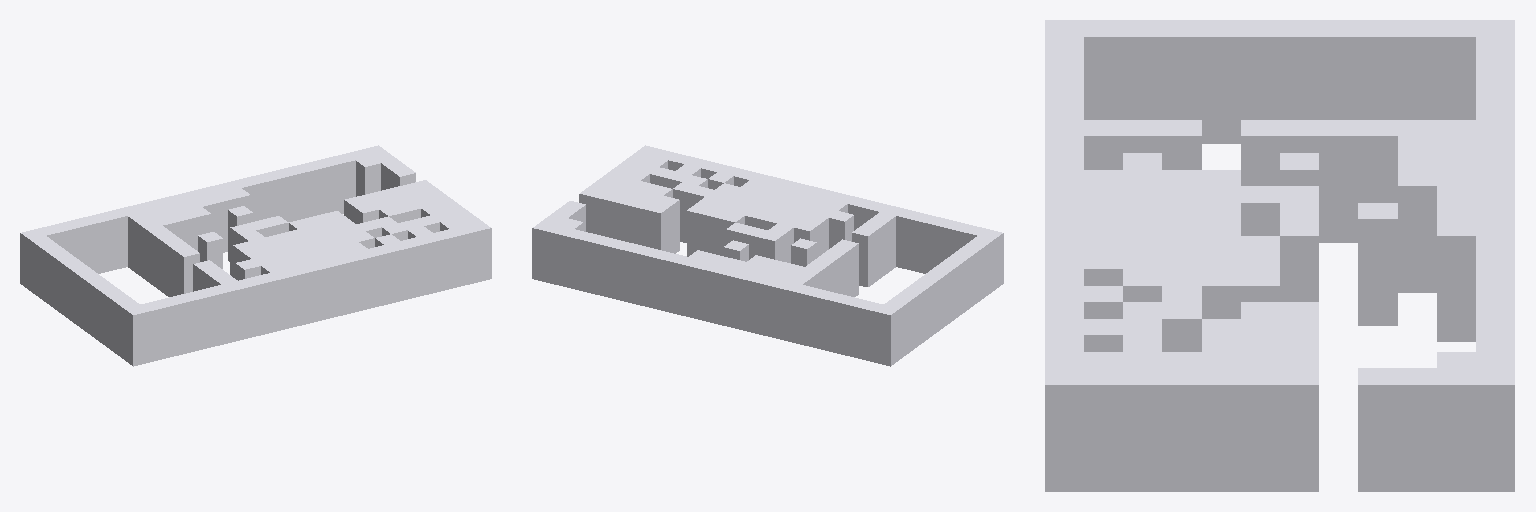
--- Render facts (derived) ---
Views: 3 orthographic renders of the robot side by side, from view 1: azimuth 30°, elevation 25°; view 2: azimuth 150°, elevation 25°; view 3: azimuth 270°, elevation 25°.
Model maze with 141 links and 140 joints (140 fixed), rooted at maze_base, posed every joint at zero.
Links seen in each view (by area): view 1: block_11_0, block_11_18, block_0_5, block_11_21, block_11_7, block_11_11, block_11_4, block_11_14, block_11_3, block_11_8, block_11_10, block_11_13 (+28 smaller); view 2: block_0_0, block_8_6, block_5_17, block_0_18, block_0_21, block_11_5, block_0_7, block_0_11, block_0_4, block_0_14, block_0_3, block_0_8 (+28 smaller); view 3: block_3_21, block_8_21, block_3_11, block_0_21, block_1_21, block_2_21, block_5_21, block_6_21, block_7_0, block_7_21, block_9_21, block_10_21 (+28 smaller).
Link boxes in pixels (x1,y1,x2,y2): block_11_0: [124, 305, 149, 366]; block_11_18: [418, 233, 442, 294]; block_0_5: [103, 209, 127, 270]; block_11_21: [466, 221, 491, 282]; block_11_7: [239, 277, 263, 338]; block_11_11: [304, 261, 328, 322]; block_11_4: [190, 289, 214, 350]; block_11_14: [353, 249, 377, 310]; block_11_3: [173, 293, 197, 354]; block_11_8: [255, 273, 279, 334]; block_11_10: [288, 265, 311, 326]; block_11_13: [336, 253, 360, 314]; block_0_0: [874, 305, 899, 366]; block_8_6: [852, 226, 877, 286]; block_5_17: [645, 203, 669, 251]; block_0_18: [581, 233, 605, 294]; block_0_21: [532, 221, 557, 282]; block_11_5: [896, 209, 920, 270]; block_0_7: [760, 277, 784, 338]; block_0_11: [695, 261, 719, 322]; block_0_4: [809, 289, 833, 350]; block_0_14: [646, 249, 670, 310]; block_0_3: [826, 293, 850, 354]; block_0_8: [744, 273, 768, 334]; block_3_21: [1358, 368, 1397, 491]; block_8_21: [1162, 368, 1201, 491]; block_3_11: [1358, 203, 1397, 325]; block_0_21: [1476, 368, 1514, 491]; block_1_21: [1437, 368, 1475, 491]; block_2_21: [1398, 368, 1436, 491]; block_5_21: [1280, 368, 1318, 491]; block_6_21: [1241, 368, 1279, 491]; block_7_0: [1202, 20, 1240, 143]; block_7_21: [1202, 368, 1240, 491]; block_9_21: [1123, 368, 1161, 491]; block_10_21: [1084, 368, 1122, 491].
Size in the robot's own frame: 22 by 12 by 3 metres.
Geometry: primitives only (box / cylinder / sphere), no mesh files.

robot.urdf — maze:
<?xml version="1.0" ?>
<robot name="maze">
  <link name="maze_base"/>

  <link name="block_0_0">
    <visual>
      <origin xyz="0 0 0"/>
      <geometry>
        <box size="1.0 1.0 3.0"/>
      </geometry>
      <material name="wall">
        <color rgba="0.95 0.95 0.98 1.0"/>
      </material>
    </visual>
    <collision>
      <origin xyz="0 0 0"/>
      <geometry>
        <box size="1.0 1.0 3.0"/>
      </geometry>
    </collision>
    <inertial>
      <mass value="0"/> <!-- static -->
      <inertia ixx="0" iyy="0" izz="0" ixy="0" ixz="0" iyz="0"/>
    </inertial>
  </link>


  <joint name="joint_block_0_0" type="fixed">
    <parent link="maze_base"/>
    <child link="block_0_0"/>
    <origin xyz="-3.5 5.5 1.5" rpy="0 0 0"/>
  </joint>


  <link name="block_0_1">
    <visual>
      <origin xyz="0 0 0"/>
      <geometry>
        <box size="1.0 1.0 3.0"/>
      </geometry>
      <material name="wall">
        <color rgba="0.95 0.95 0.98 1.0"/>
      </material>
    </visual>
    <collision>
      <origin xyz="0 0 0"/>
      <geometry>
        <box size="1.0 1.0 3.0"/>
      </geometry>
    </collision>
    <inertial>
      <mass value="0"/> <!-- static -->
      <inertia ixx="0" iyy="0" izz="0" ixy="0" ixz="0" iyz="0"/>
    </inertial>
  </link>


  <joint name="joint_block_0_1" type="fixed">
    <parent link="maze_base"/>
    <child link="block_0_1"/>
    <origin xyz="-2.5 5.5 1.5" rpy="0 0 0"/>
  </joint>


  <link name="block_0_2">
    <visual>
      <origin xyz="0 0 0"/>
      <geometry>
        <box size="1.0 1.0 3.0"/>
      </geometry>
      <material name="wall">
        <color rgba="0.95 0.95 0.98 1.0"/>
      </material>
    </visual>
    <collision>
      <origin xyz="0 0 0"/>
      <geometry>
        <box size="1.0 1.0 3.0"/>
      </geometry>
    </collision>
    <inertial>
      <mass value="0"/> <!-- static -->
      <inertia ixx="0" iyy="0" izz="0" ixy="0" ixz="0" iyz="0"/>
    </inertial>
  </link>


  <joint name="joint_block_0_2" type="fixed">
    <parent link="maze_base"/>
    <child link="block_0_2"/>
    <origin xyz="-1.5 5.5 1.5" rpy="0 0 0"/>
  </joint>


  <link name="block_0_3">
    <visual>
      <origin xyz="0 0 0"/>
      <geometry>
        <box size="1.0 1.0 3.0"/>
      </geometry>
      <material name="wall">
        <color rgba="0.95 0.95 0.98 1.0"/>
      </material>
    </visual>
    <collision>
      <origin xyz="0 0 0"/>
      <geometry>
        <box size="1.0 1.0 3.0"/>
      </geometry>
    </collision>
    <inertial>
      <mass value="0"/> <!-- static -->
      <inertia ixx="0" iyy="0" izz="0" ixy="0" ixz="0" iyz="0"/>
    </inertial>
  </link>


  <joint name="joint_block_0_3" type="fixed">
    <parent link="maze_base"/>
    <child link="block_0_3"/>
    <origin xyz="-0.5 5.5 1.5" rpy="0 0 0"/>
  </joint>


  <link name="block_0_4">
    <visual>
      <origin xyz="0 0 0"/>
      <geometry>
        <box size="1.0 1.0 3.0"/>
      </geometry>
      <material name="wall">
        <color rgba="0.95 0.95 0.98 1.0"/>
      </material>
    </visual>
    <collision>
      <origin xyz="0 0 0"/>
      <geometry>
        <box size="1.0 1.0 3.0"/>
      </geometry>
    </collision>
    <inertial>
      <mass value="0"/> <!-- static -->
      <inertia ixx="0" iyy="0" izz="0" ixy="0" ixz="0" iyz="0"/>
    </inertial>
  </link>


  <joint name="joint_block_0_4" type="fixed">
    <parent link="maze_base"/>
    <child link="block_0_4"/>
    <origin xyz="0.5 5.5 1.5" rpy="0 0 0"/>
  </joint>


  <link name="block_0_5">
    <visual>
      <origin xyz="0 0 0"/>
      <geometry>
        <box size="1.0 1.0 3.0"/>
      </geometry>
      <material name="wall">
        <color rgba="0.95 0.95 0.98 1.0"/>
      </material>
    </visual>
    <collision>
      <origin xyz="0 0 0"/>
      <geometry>
        <box size="1.0 1.0 3.0"/>
      </geometry>
    </collision>
    <inertial>
      <mass value="0"/> <!-- static -->
      <inertia ixx="0" iyy="0" izz="0" ixy="0" ixz="0" iyz="0"/>
    </inertial>
  </link>


  <joint name="joint_block_0_5" type="fixed">
    <parent link="maze_base"/>
    <child link="block_0_5"/>
    <origin xyz="1.5 5.5 1.5" rpy="0 0 0"/>
  </joint>


  <link name="block_0_6">
    <visual>
      <origin xyz="0 0 0"/>
      <geometry>
        <box size="1.0 1.0 3.0"/>
      </geometry>
      <material name="wall">
        <color rgba="0.95 0.95 0.98 1.0"/>
      </material>
    </visual>
    <collision>
      <origin xyz="0 0 0"/>
      <geometry>
        <box size="1.0 1.0 3.0"/>
      </geometry>
    </collision>
    <inertial>
      <mass value="0"/> <!-- static -->
      <inertia ixx="0" iyy="0" izz="0" ixy="0" ixz="0" iyz="0"/>
    </inertial>
  </link>


  <joint name="joint_block_0_6" type="fixed">
    <parent link="maze_base"/>
    <child link="block_0_6"/>
    <origin xyz="2.5 5.5 1.5" rpy="0 0 0"/>
  </joint>


  <link name="block_0_7">
    <visual>
      <origin xyz="0 0 0"/>
      <geometry>
        <box size="1.0 1.0 3.0"/>
      </geometry>
      <material name="wall">
        <color rgba="0.95 0.95 0.98 1.0"/>
      </material>
    </visual>
    <collision>
      <origin xyz="0 0 0"/>
      <geometry>
        <box size="1.0 1.0 3.0"/>
      </geometry>
    </collision>
    <inertial>
      <mass value="0"/> <!-- static -->
      <inertia ixx="0" iyy="0" izz="0" ixy="0" ixz="0" iyz="0"/>
    </inertial>
  </link>


  <joint name="joint_block_0_7" type="fixed">
    <parent link="maze_base"/>
    <child link="block_0_7"/>
    <origin xyz="3.5 5.5 1.5" rpy="0 0 0"/>
  </joint>


  <link name="block_0_8">
    <visual>
      <origin xyz="0 0 0"/>
      <geometry>
        <box size="1.0 1.0 3.0"/>
      </geometry>
      <material name="wall">
        <color rgba="0.95 0.95 0.98 1.0"/>
      </material>
    </visual>
    <collision>
      <origin xyz="0 0 0"/>
      <geometry>
        <box size="1.0 1.0 3.0"/>
      </geometry>
    </collision>
    <inertial>
      <mass value="0"/> <!-- static -->
      <inertia ixx="0" iyy="0" izz="0" ixy="0" ixz="0" iyz="0"/>
    </inertial>
  </link>


  <joint name="joint_block_0_8" type="fixed">
    <parent link="maze_base"/>
    <child link="block_0_8"/>
    <origin xyz="4.5 5.5 1.5" rpy="0 0 0"/>
  </joint>


  <link name="block_0_9">
    <visual>
      <origin xyz="0 0 0"/>
      <geometry>
        <box size="1.0 1.0 3.0"/>
      </geometry>
      <material name="wall">
        <color rgba="0.95 0.95 0.98 1.0"/>
      </material>
    </visual>
    <collision>
      <origin xyz="0 0 0"/>
      <geometry>
        <box size="1.0 1.0 3.0"/>
      </geometry>
    </collision>
    <inertial>
      <mass value="0"/> <!-- static -->
      <inertia ixx="0" iyy="0" izz="0" ixy="0" ixz="0" iyz="0"/>
    </inertial>
  </link>


  <joint name="joint_block_0_9" type="fixed">
    <parent link="maze_base"/>
    <child link="block_0_9"/>
    <origin xyz="5.5 5.5 1.5" rpy="0 0 0"/>
  </joint>


  <link name="block_0_10">
    <visual>
      <origin xyz="0 0 0"/>
      <geometry>
        <box size="1.0 1.0 3.0"/>
      </geometry>
      <material name="wall">
        <color rgba="0.95 0.95 0.98 1.0"/>
      </material>
    </visual>
    <collision>
      <origin xyz="0 0 0"/>
      <geometry>
        <box size="1.0 1.0 3.0"/>
      </geometry>
    </collision>
    <inertial>
      <mass value="0"/> <!-- static -->
      <inertia ixx="0" iyy="0" izz="0" ixy="0" ixz="0" iyz="0"/>
    </inertial>
  </link>


  <joint name="joint_block_0_10" type="fixed">
    <parent link="maze_base"/>
    <child link="block_0_10"/>
    <origin xyz="6.5 5.5 1.5" rpy="0 0 0"/>
  </joint>


  <link name="block_0_11">
    <visual>
      <origin xyz="0 0 0"/>
      <geometry>
        <box size="1.0 1.0 3.0"/>
      </geometry>
      <material name="wall">
        <color rgba="0.95 0.95 0.98 1.0"/>
      </material>
    </visual>
    <collision>
      <origin xyz="0 0 0"/>
      <geometry>
        <box size="1.0 1.0 3.0"/>
      </geometry>
    </collision>
    <inertial>
      <mass value="0"/> <!-- static -->
      <inertia ixx="0" iyy="0" izz="0" ixy="0" ixz="0" iyz="0"/>
    </inertial>
  </link>


  <joint name="joint_block_0_11" type="fixed">
    <parent link="maze_base"/>
    <child link="block_0_11"/>
    <origin xyz="7.5 5.5 1.5" rpy="0 0 0"/>
  </joint>


  <link name="block_0_12">
    <visual>
      <origin xyz="0 0 0"/>
      <geometry>
        <box size="1.0 1.0 3.0"/>
      </geometry>
      <material name="wall">
        <color rgba="0.95 0.95 0.98 1.0"/>
      </material>
    </visual>
    <collision>
      <origin xyz="0 0 0"/>
      <geometry>
        <box size="1.0 1.0 3.0"/>
      </geometry>
    </collision>
    <inertial>
      <mass value="0"/> <!-- static -->
      <inertia ixx="0" iyy="0" izz="0" ixy="0" ixz="0" iyz="0"/>
    </inertial>
  </link>


  <joint name="joint_block_0_12" type="fixed">
    <parent link="maze_base"/>
    <child link="block_0_12"/>
    <origin xyz="8.5 5.5 1.5" rpy="0 0 0"/>
  </joint>


  <link name="block_0_13">
    <visual>
      <origin xyz="0 0 0"/>
      <geometry>
        <box size="1.0 1.0 3.0"/>
      </geometry>
      <material name="wall">
        <color rgba="0.95 0.95 0.98 1.0"/>
      </material>
    </visual>
    <collision>
      <origin xyz="0 0 0"/>
      <geometry>
        <box size="1.0 1.0 3.0"/>
      </geometry>
    </collision>
    <inertial>
      <mass value="0"/> <!-- static -->
      <inertia ixx="0" iyy="0" izz="0" ixy="0" ixz="0" iyz="0"/>
    </inertial>
  </link>


  <joint name="joint_block_0_13" type="fixed">
    <parent link="maze_base"/>
    <child link="block_0_13"/>
    <origin xyz="9.5 5.5 1.5" rpy="0 0 0"/>
  </joint>


  <link name="block_0_14">
    <visual>
      <origin xyz="0 0 0"/>
      <geometry>
        <box size="1.0 1.0 3.0"/>
      </geometry>
      <material name="wall">
        <color rgba="0.95 0.95 0.98 1.0"/>
      </material>
    </visual>
    <collision>
      <origin xyz="0 0 0"/>
      <geometry>
        <box size="1.0 1.0 3.0"/>
      </geometry>
    </collision>
    <inertial>
      <mass value="0"/> <!-- static -->
      <inertia ixx="0" iyy="0" izz="0" ixy="0" ixz="0" iyz="0"/>
    </inertial>
  </link>


  <joint name="joint_block_0_14" type="fixed">
    <parent link="maze_base"/>
    <child link="block_0_14"/>
    <origin xyz="10.5 5.5 1.5" rpy="0 0 0"/>
  </joint>


  <link name="block_0_15">
    <visual>
      <origin xyz="0 0 0"/>
      <geometry>
        <box size="1.0 1.0 3.0"/>
      </geometry>
      <material name="wall">
        <color rgba="0.95 0.95 0.98 1.0"/>
      </material>
    </visual>
    <collision>
      <origin xyz="0 0 0"/>
      <geometry>
        <box size="1.0 1.0 3.0"/>
      </geometry>
    </collision>
    <inertial>
      <mass value="0"/> <!-- static -->
      <inertia ixx="0" iyy="0" izz="0" ixy="0" ixz="0" iyz="0"/>
    </inertial>
  </link>


  <joint name="joint_block_0_15" type="fixed">
    <parent link="maze_base"/>
    <child link="block_0_15"/>
    <origin xyz="11.5 5.5 1.5" rpy="0 0 0"/>
  </joint>


  <link name="block_0_16">
    <visual>
      <origin xyz="0 0 0"/>
      <geometry>
        <box size="1.0 1.0 3.0"/>
      </geometry>
      <material name="wall">
        <color rgba="0.95 0.95 0.98 1.0"/>
      </material>
    </visual>
    <collision>
      <origin xyz="0 0 0"/>
      <geometry>
        <box size="1.0 1.0 3.0"/>
      </geometry>
    </collision>
    <inertial>
      <mass value="0"/> <!-- static -->
      <inertia ixx="0" iyy="0" izz="0" ixy="0" ixz="0" iyz="0"/>
    </inertial>
  </link>


  <joint name="joint_block_0_16" type="fixed">
    <parent link="maze_base"/>
    <child link="block_0_16"/>
    <origin xyz="12.5 5.5 1.5" rpy="0 0 0"/>
  </joint>


  <link name="block_0_17">
    <visual>
      <origin xyz="0 0 0"/>
      <geometry>
        <box size="1.0 1.0 3.0"/>
      </geometry>
      <material name="wall">
        <color rgba="0.95 0.95 0.98 1.0"/>
      </material>
    </visual>
    <collision>
      <origin xyz="0 0 0"/>
      <geometry>
        <box size="1.0 1.0 3.0"/>
      </geometry>
    </collision>
    <inertial>
      <mass value="0"/> <!-- static -->
      <inertia ixx="0" iyy="0" izz="0" ixy="0" ixz="0" iyz="0"/>
    </inertial>
  </link>


  <joint name="joint_block_0_17" type="fixed">
    <parent link="maze_base"/>
    <child link="block_0_17"/>
    <origin xyz="13.5 5.5 1.5" rpy="0 0 0"/>
  </joint>


  <link name="block_0_18">
    <visual>
      <origin xyz="0 0 0"/>
      <geometry>
        <box size="1.0 1.0 3.0"/>
      </geometry>
      <material name="wall">
        <color rgba="0.95 0.95 0.98 1.0"/>
      </material>
    </visual>
    <collision>
      <origin xyz="0 0 0"/>
      <geometry>
        <box size="1.0 1.0 3.0"/>
      </geometry>
    </collision>
    <inertial>
      <mass value="0"/> <!-- static -->
      <inertia ixx="0" iyy="0" izz="0" ixy="0" ixz="0" iyz="0"/>
    </inertial>
  </link>


  <joint name="joint_block_0_18" type="fixed">
    <parent link="maze_base"/>
    <child link="block_0_18"/>
    <origin xyz="14.5 5.5 1.5" rpy="0 0 0"/>
  </joint>


  <link name="block_0_19">
    <visual>
      <origin xyz="0 0 0"/>
      <geometry>
        <box size="1.0 1.0 3.0"/>
      </geometry>
      <material name="wall">
        <color rgba="0.95 0.95 0.98 1.0"/>
      </material>
    </visual>
    <collision>
      <origin xyz="0 0 0"/>
      <geometry>
        <box size="1.0 1.0 3.0"/>
      </geometry>
    </collision>
    <inertial>
      <mass value="0"/> <!-- static -->
      <inertia ixx="0" iyy="0" izz="0" ixy="0" ixz="0" iyz="0"/>
    </inertial>
  </link>


  <joint name="joint_block_0_19" type="fixed">
    <parent link="maze_base"/>
    <child link="block_0_19"/>
    <origin xyz="15.5 5.5 1.5" rpy="0 0 0"/>
  </joint>


  <link name="block_0_20">
    <visual>
      <origin xyz="0 0 0"/>
      <geometry>
        <box size="1.0 1.0 3.0"/>
      </geometry>
      <material name="wall">
        <color rgba="0.95 0.95 0.98 1.0"/>
      </material>
    </visual>
    <collision>
      <origin xyz="0 0 0"/>
      <geometry>
        <box size="1.0 1.0 3.0"/>
      </geometry>
    </collision>
    <inertial>
      <mass value="0"/> <!-- static -->
      <inertia ixx="0" iyy="0" izz="0" ixy="0" ixz="0" iyz="0"/>
    </inertial>
  </link>


  <joint name="joint_block_0_20" type="fixed">
    <parent link="maze_base"/>
    <child link="block_0_20"/>
    <origin xyz="16.5 5.5 1.5" rpy="0 0 0"/>
  </joint>


  <link name="block_0_21">
    <visual>
      <origin xyz="0 0 0"/>
      <geometry>
        <box size="1.0 1.0 3.0"/>
      </geometry>
      <material name="wall">
        <color rgba="0.95 0.95 0.98 1.0"/>
      </material>
    </visual>
    <collision>
      <origin xyz="0 0 0"/>
      <geometry>
        <box size="1.0 1.0 3.0"/>
      </geometry>
    </collision>
    <inertial>
      <mass value="0"/> <!-- static -->
      <inertia ixx="0" iyy="0" izz="0" ixy="0" ixz="0" iyz="0"/>
    </inertial>
  </link>


  <joint name="joint_block_0_21" type="fixed">
    <parent link="maze_base"/>
    <child link="block_0_21"/>
    <origin xyz="17.5 5.5 1.5" rpy="0 0 0"/>
  </joint>


  <link name="block_1_0">
    <visual>
      <origin xyz="0 0 0"/>
      <geometry>
        <box size="1.0 1.0 3.0"/>
      </geometry>
      <material name="wall">
        <color rgba="0.95 0.95 0.98 1.0"/>
      </material>
    </visual>
    <collision>
      <origin xyz="0 0 0"/>
      <geometry>
        <box size="1.0 1.0 3.0"/>
      </geometry>
    </collision>
    <inertial>
      <mass value="0"/> <!-- static -->
      <inertia ixx="0" iyy="0" izz="0" ixy="0" ixz="0" iyz="0"/>
    </inertial>
  </link>


  <joint name="joint_block_1_0" type="fixed">
    <parent link="maze_base"/>
    <child link="block_1_0"/>
    <origin xyz="-3.5 4.5 1.5" rpy="0 0 0"/>
  </joint>


  <link name="block_1_6">
    <visual>
      <origin xyz="0 0 0"/>
      <geometry>
        <box size="1.0 1.0 3.0"/>
      </geometry>
      <material name="wall">
        <color rgba="0.95 0.95 0.98 1.0"/>
      </material>
    </visual>
    <collision>
      <origin xyz="0 0 0"/>
      <geometry>
        <box size="1.0 1.0 3.0"/>
      </geometry>
    </collision>
    <inertial>
      <mass value="0"/> <!-- static -->
      <inertia ixx="0" iyy="0" izz="0" ixy="0" ixz="0" iyz="0"/>
    </inertial>
  </link>


  <joint name="joint_block_1_6" type="fixed">
    <parent link="maze_base"/>
    <child link="block_1_6"/>
    <origin xyz="2.5 4.5 1.5" rpy="0 0 0"/>
  </joint>


  <link name="block_1_7">
    <visual>
      <origin xyz="0 0 0"/>
      <geometry>
        <box size="1.0 1.0 3.0"/>
      </geometry>
      <material name="wall">
        <color rgba="0.95 0.95 0.98 1.0"/>
      </material>
    </visual>
    <collision>
      <origin xyz="0 0 0"/>
      <geometry>
        <box size="1.0 1.0 3.0"/>
      </geometry>
    </collision>
    <inertial>
      <mass value="0"/> <!-- static -->
      <inertia ixx="0" iyy="0" izz="0" ixy="0" ixz="0" iyz="0"/>
    </inertial>
  </link>


  <joint name="joint_block_1_7" type="fixed">
    <parent link="maze_base"/>
    <child link="block_1_7"/>
    <origin xyz="3.5 4.5 1.5" rpy="0 0 0"/>
  </joint>


  <link name="block_1_8">
    <visual>
      <origin xyz="0 0 0"/>
      <geometry>
        <box size="1.0 1.0 3.0"/>
      </geometry>
      <material name="wall">
        <color rgba="0.95 0.95 0.98 1.0"/>
      </material>
    </visual>
    <collision>
      <origin xyz="0 0 0"/>
      <geometry>
        <box size="1.0 1.0 3.0"/>
      </geometry>
    </collision>
    <inertial>
      <mass value="0"/> <!-- static -->
      <inertia ixx="0" iyy="0" izz="0" ixy="0" ixz="0" iyz="0"/>
    </inertial>
  </link>


  <joint name="joint_block_1_8" type="fixed">
    <parent link="maze_base"/>
    <child link="block_1_8"/>
    <origin xyz="4.5 4.5 1.5" rpy="0 0 0"/>
  </joint>


  <link name="block_1_9">
    <visual>
      <origin xyz="0 0 0"/>
      <geometry>
        <box size="1.0 1.0 3.0"/>
      </geometry>
      <material name="wall">
        <color rgba="0.95 0.95 0.98 1.0"/>
      </material>
    </visual>
    <collision>
      <origin xyz="0 0 0"/>
      <geometry>
        <box size="1.0 1.0 3.0"/>
      </geometry>
    </collision>
    <inertial>
      <mass value="0"/> <!-- static -->
      <inertia ixx="0" iyy="0" izz="0" ixy="0" ixz="0" iyz="0"/>
    </inertial>
  </link>


  <joint name="joint_block_1_9" type="fixed">
    <parent link="maze_base"/>
    <child link="block_1_9"/>
    <origin xyz="5.5 4.5 1.5" rpy="0 0 0"/>
  </joint>


  <link name="block_1_10">
    <visual>
      <origin xyz="0 0 0"/>
      <geometry>
        <box size="1.0 1.0 3.0"/>
      </geometry>
      <material name="wall">
        <color rgba="0.95 0.95 0.98 1.0"/>
      </material>
    </visual>
    <collision>
      <origin xyz="0 0 0"/>
      <geometry>
        <box size="1.0 1.0 3.0"/>
      </geometry>
    </collision>
    <inertial>
      <mass value="0"/> <!-- static -->
      <inertia ixx="0" iyy="0" izz="0" ixy="0" ixz="0" iyz="0"/>
    </inertial>
  </link>


  <joint name="joint_block_1_10" type="fixed">
    <parent link="maze_base"/>
    <child link="block_1_10"/>
    <origin xyz="6.5 4.5 1.5" rpy="0 0 0"/>
  </joint>


  <link name="block_1_11">
    <visual>
      <origin xyz="0 0 0"/>
      <geometry>
        <box size="1.0 1.0 3.0"/>
      </geometry>
      <material name="wall">
        <color rgba="0.95 0.95 0.98 1.0"/>
      </material>
    </visual>
    <collision>
      <origin xyz="0 0 0"/>
      <geometry>
        <box size="1.0 1.0 3.0"/>
      </geometry>
    </collision>
    <inertial>
      <mass value="0"/> <!-- static -->
      <inertia ixx="0" iyy="0" izz="0" ixy="0" ixz="0" iyz="0"/>
    </inertial>
  </link>


  <joint name="joint_block_1_11" type="fixed">
    <parent link="maze_base"/>
    <child link="block_1_11"/>
    <origin xyz="7.5 4.5 1.5" rpy="0 0 0"/>
  </joint>


  <link name="block_1_12">
    <visual>
      <origin xyz="0 0 0"/>
      <geometry>
        <box size="1.0 1.0 3.0"/>
      </geometry>
      <material name="wall">
        <color rgba="0.95 0.95 0.98 1.0"/>
      </material>
    </visual>
    <collision>
      <origin xyz="0 0 0"/>
      <geometry>
        <box size="1.0 1.0 3.0"/>
      </geometry>
    </collision>
    <inertial>
      <mass value="0"/> <!-- static -->
      <inertia ixx="0" iyy="0" izz="0" ixy="0" ixz="0" iyz="0"/>
    </inertial>
  </link>


  <joint name="joint_block_1_12" type="fixed">
    <parent link="maze_base"/>
    <child link="block_1_12"/>
    <origin xyz="8.5 4.5 1.5" rpy="0 0 0"/>
  </joint>


  <link name="block_1_20">
    <visual>
      <origin xyz="0 0 0"/>
      <geometry>
        <box size="1.0 1.0 3.0"/>
      </geometry>
      <material name="wall">
        <color rgba="0.95 0.95 0.98 1.0"/>
      </material>
    </visual>
    <collision>
      <origin xyz="0 0 0"/>
      <geometry>
        <box size="1.0 1.0 3.0"/>
      </geometry>
    </collision>
    <inertial>
      <mass value="0"/> <!-- static -->
      <inertia ixx="0" iyy="0" izz="0" ixy="0" ixz="0" iyz="0"/>
    </inertial>
  </link>


  <joint name="joint_block_1_20" type="fixed">
    <parent link="maze_base"/>
    <child link="block_1_20"/>
    <origin xyz="16.5 4.5 1.5" rpy="0 0 0"/>
  </joint>


  <link name="block_1_21">
    <visual>
      <origin xyz="0 0 0"/>
      <geometry>
        <box size="1.0 1.0 3.0"/>
      </geometry>
      <material name="wall">
        <color rgba="0.95 0.95 0.98 1.0"/>
      </material>
    </visual>
    <collision>
      <origin xyz="0 0 0"/>
      <geometry>
        <box size="1.0 1.0 3.0"/>
      </geometry>
    </collision>
    <inertial>
      <mass value="0"/> <!-- static -->
      <inertia ixx="0" iyy="0" izz="0" ixy="0" ixz="0" iyz="0"/>
    </inertial>
  </link>


  <joint name="joint_block_1_21" type="fixed">
    <parent link="maze_base"/>
    <child link="block_1_21"/>
    <origin xyz="17.5 4.5 1.5" rpy="0 0 0"/>
  </joint>


  <link name="block_2_0">
    <visual>
      <origin xyz="0 0 0"/>
      <geometry>
        <box size="1.0 1.0 3.0"/>
      </geometry>
      <material name="wall">
        <color rgba="0.95 0.95 0.98 1.0"/>
      </material>
    </visual>
    <collision>
      <origin xyz="0 0 0"/>
      <geometry>
        <box size="1.0 1.0 3.0"/>
      </geometry>
    </collision>
    <inertial>
      <mass value="0"/> <!-- static -->
      <inertia ixx="0" iyy="0" izz="0" ixy="0" ixz="0" iyz="0"/>
    </inertial>
  </link>


  <joint name="joint_block_2_0" type="fixed">
    <parent link="maze_base"/>
    <child link="block_2_0"/>
    <origin xyz="-3.5 3.5 1.5" rpy="0 0 0"/>
  </joint>


  <link name="block_2_6">
    <visual>
      <origin xyz="0 0 0"/>
      <geometry>
        <box size="1.0 1.0 3.0"/>
      </geometry>
      <material name="wall">
        <color rgba="0.95 0.95 0.98 1.0"/>
      </material>
    </visual>
    <collision>
      <origin xyz="0 0 0"/>
      <geometry>
        <box size="1.0 1.0 3.0"/>
      </geometry>
    </collision>
    <inertial>
      <mass value="0"/> <!-- static -->
      <inertia ixx="0" iyy="0" izz="0" ixy="0" ixz="0" iyz="0"/>
    </inertial>
  </link>


  <joint name="joint_block_2_6" type="fixed">
    <parent link="maze_base"/>
    <child link="block_2_6"/>
    <origin xyz="2.5 3.5 1.5" rpy="0 0 0"/>
  </joint>


  <link name="block_2_7">
    <visual>
      <origin xyz="0 0 0"/>
      <geometry>
        <box size="1.0 1.0 3.0"/>
      </geometry>
      <material name="wall">
        <color rgba="0.95 0.95 0.98 1.0"/>
      </material>
    </visual>
    <collision>
      <origin xyz="0 0 0"/>
      <geometry>
        <box size="1.0 1.0 3.0"/>
      </geometry>
    </collision>
    <inertial>
      <mass value="0"/> <!-- static -->
      <inertia ixx="0" iyy="0" izz="0" ixy="0" ixz="0" iyz="0"/>
    </inertial>
  </link>


  <joint name="joint_block_2_7" type="fixed">
    <parent link="maze_base"/>
    <child link="block_2_7"/>
    <origin xyz="3.5 3.5 1.5" rpy="0 0 0"/>
  </joint>


  <link name="block_2_8">
    <visual>
      <origin xyz="0 0 0"/>
      <geometry>
        <box size="1.0 1.0 3.0"/>
      </geometry>
      <material name="wall">
        <color rgba="0.95 0.95 0.98 1.0"/>
      </material>
    </visual>
    <collision>
      <origin xyz="0 0 0"/>
      <geometry>
        <box size="1.0 1.0 3.0"/>
      </geometry>
    </collision>
    <inertial>
      <mass value="0"/> <!-- static -->
      <inertia ixx="0" iyy="0" izz="0" ixy="0" ixz="0" iyz="0"/>
    </inertial>
  </link>


  <joint name="joint_block_2_8" type="fixed">
    <parent link="maze_base"/>
    <child link="block_2_8"/>
    <origin xyz="4.5 3.5 1.5" rpy="0 0 0"/>
  </joint>


  <link name="block_2_9">
    <visual>
      <origin xyz="0 0 0"/>
      <geometry>
        <box size="1.0 1.0 3.0"/>
      </geometry>
      <material name="wall">
        <color rgba="0.95 0.95 0.98 1.0"/>
      </material>
    </visual>
    <collision>
      <origin xyz="0 0 0"/>
      <geometry>
        <box size="1.0 1.0 3.0"/>
      </geometry>
    </collision>
    <inertial>
      <mass value="0"/> <!-- static -->
      <inertia ixx="0" iyy="0" izz="0" ixy="0" ixz="0" iyz="0"/>
    </inertial>
  </link>


  <joint name="joint_block_2_9" type="fixed">
    <parent link="maze_base"/>
    <child link="block_2_9"/>
    <origin xyz="5.5 3.5 1.5" rpy="0 0 0"/>
  </joint>


  <link name="block_2_21">
    <visual>
      <origin xyz="0 0 0"/>
      <geometry>
        <box size="1.0 1.0 3.0"/>
      </geometry>
      <material name="wall">
        <color rgba="0.95 0.95 0.98 1.0"/>
      </material>
    </visual>
    <collision>
      <origin xyz="0 0 0"/>
      <geometry>
        <box size="1.0 1.0 3.0"/>
      </geometry>
    </collision>
    <inertial>
      <mass value="0"/> <!-- static -->
      <inertia ixx="0" iyy="0" izz="0" ixy="0" ixz="0" iyz="0"/>
    </inertial>
  </link>


  <joint name="joint_block_2_21" type="fixed">
    <parent link="maze_base"/>
    <child link="block_2_21"/>
    <origin xyz="17.5 3.5 1.5" rpy="0 0 0"/>
  </joint>


  <link name="block_3_0">
    <visual>
      <origin xyz="0 0 0"/>
      <geometry>
        <box size="1.0 1.0 3.0"/>
      </geometry>
      <material name="wall">
        <color rgba="0.95 0.95 0.98 1.0"/>
      </material>
    </visual>
    <collision>
      <origin xyz="0 0 0"/>
      <geometry>
        <box size="1.0 1.0 3.0"/>
      </geometry>
    </collision>
    <inertial>
      <mass value="0"/> <!-- static -->
      <inertia ixx="0" iyy="0" izz="0" ixy="0" ixz="0" iyz="0"/>
    </inertial>
  </link>


  <joint name="joint_block_3_0" type="fixed">
    <parent link="maze_base"/>
    <child link="block_3_0"/>
    <origin xyz="-3.5 2.5 1.5" rpy="0 0 0"/>
  </joint>


  <link name="block_3_6">
    <visual>
      <origin xyz="0 0 0"/>
      <geometry>
        <box size="1.0 1.0 3.0"/>
      </geometry>
      <material name="wall">
        <color rgba="0.95 0.95 0.98 1.0"/>
      </material>
    </visual>
    <collision>
      <origin xyz="0 0 0"/>
      <geometry>
        <box size="1.0 1.0 3.0"/>
      </geometry>
    </collision>
    <inertial>
      <mass value="0"/> <!-- static -->
      <inertia ixx="0" iyy="0" izz="0" ixy="0" ixz="0" iyz="0"/>
    </inertial>
  </link>


  <joint name="joint_block_3_6" type="fixed">
    <parent link="maze_base"/>
    <child link="block_3_6"/>
    <origin xyz="2.5 2.5 1.5" rpy="0 0 0"/>
  </joint>


  <link name="block_3_11">
    <visual>
      <origin xyz="0 0 0"/>
      <geometry>
        <box size="1.0 1.0 3.0"/>
      </geometry>
      <material name="wall">
        <color rgba="0.95 0.95 0.98 1.0"/>
      </material>
    </visual>
    <collision>
      <origin xyz="0 0 0"/>
      <geometry>
        <box size="1.0 1.0 3.0"/>
      </geometry>
    </collision>
    <inertial>
      <mass value="0"/> <!-- static -->
      <inertia ixx="0" iyy="0" izz="0" ixy="0" ixz="0" iyz="0"/>
    </inertial>
  </link>


  <joint name="joint_block_3_11" type="fixed">
    <parent link="maze_base"/>
    <child link="block_3_11"/>
    <origin xyz="7.5 2.5 1.5" rpy="0 0 0"/>
  </joint>


  <link name="block_3_21">
    <visual>
      <origin xyz="0 0 0"/>
      <geometry>
        <box size="1.0 1.0 3.0"/>
      </geometry>
      <material name="wall">
        <color rgba="0.95 0.95 0.98 1.0"/>
      </material>
    </visual>
    <collision>
      <origin xyz="0 0 0"/>
      <geometry>
        <box size="1.0 1.0 3.0"/>
      </geometry>
    </collision>
    <inertial>
      <mass value="0"/> <!-- static -->
      <inertia ixx="0" iyy="0" izz="0" ixy="0" ixz="0" iyz="0"/>
    </inertial>
  </link>


  <joint name="joint_block_3_21" type="fixed">
    <parent link="maze_base"/>
    <child link="block_3_21"/>
    <origin xyz="17.5 2.5 1.5" rpy="0 0 0"/>
  </joint>


  <link name="block_4_0">
    <visual>
      <origin xyz="0 0 0"/>
      <geometry>
        <box size="1.0 1.0 3.0"/>
      </geometry>
      <material name="wall">
        <color rgba="0.95 0.95 0.98 1.0"/>
      </material>
    </visual>
    <collision>
      <origin xyz="0 0 0"/>
      <geometry>
        <box size="1.0 1.0 3.0"/>
      </geometry>
    </collision>
    <inertial>
      <mass value="0"/> <!-- static -->
      <inertia ixx="0" iyy="0" izz="0" ixy="0" ixz="0" iyz="0"/>
    </inertial>
  </link>


  <joint name="joint_block_4_0" type="fixed">
    <parent link="maze_base"/>
    <child link="block_4_0"/>
    <origin xyz="-3.5 1.5 1.5" rpy="0 0 0"/>
  </joint>


  <link name="block_4_6">
    <visual>
      <origin xyz="0 0 0"/>
      <geometry>
        <box size="1.0 1.0 3.0"/>
      </geometry>
      <material name="wall">
        <color rgba="0.95 0.95 0.98 1.0"/>
      </material>
    </visual>
    <collision>
      <origin xyz="0 0 0"/>
      <geometry>
        <box size="1.0 1.0 3.0"/>
      </geometry>
    </collision>
    <inertial>
      <mass value="0"/> <!-- static -->
      <inertia ixx="0" iyy="0" izz="0" ixy="0" ixz="0" iyz="0"/>
    </inertial>
  </link>


  <joint name="joint_block_4_6" type="fixed">
    <parent link="maze_base"/>
    <child link="block_4_6"/>
    <origin xyz="2.5 1.5 1.5" rpy="0 0 0"/>
  </joint>


  <link name="block_5_0">
    <visual>
      <origin xyz="0 0 0"/>
      <geometry>
        <box size="1.0 1.0 3.0"/>
      </geometry>
      <material name="wall">
        <color rgba="0.95 0.95 0.98 1.0"/>
      </material>
    </visual>
    <collision>
      <origin xyz="0 0 0"/>
      <geometry>
        <box size="1.0 1.0 3.0"/>
      </geometry>
    </collision>
    <inertial>
      <mass value="0"/> <!-- static -->
      <inertia ixx="0" iyy="0" izz="0" ixy="0" ixz="0" iyz="0"/>
    </inertial>
  </link>


  <joint name="joint_block_5_0" type="fixed">
    <parent link="maze_base"/>
    <child link="block_5_0"/>
    <origin xyz="-3.5 0.5 1.5" rpy="0 0 0"/>
  </joint>


  <link name="block_5_6">
    <visual>
      <origin xyz="0 0 0"/>
      <geometry>
        <box size="1.0 1.0 3.0"/>
      </geometry>
      <material name="wall">
        <color rgba="0.95 0.95 0.98 1.0"/>
      </material>
    </visual>
    <collision>
      <origin xyz="0 0 0"/>
      <geometry>
        <box size="1.0 1.0 3.0"/>
      </geometry>
    </collision>
    <inertial>
      <mass value="0"/> <!-- static -->
      <inertia ixx="0" iyy="0" izz="0" ixy="0" ixz="0" iyz="0"/>
    </inertial>
  </link>


  <joint name="joint_block_5_6" type="fixed">
    <parent link="maze_base"/>
    <child link="block_5_6"/>
    <origin xyz="2.5 0.5 1.5" rpy="0 0 0"/>
  </joint>


  <link name="block_5_8">
    <visual>
      <origin xyz="0 0 0"/>
      <geometry>
        <box size="1.0 1.0 3.0"/>
      </geometry>
      <material name="wall">
        <color rgba="0.95 0.95 0.98 1.0"/>
      </material>
    </visual>
    <collision>
      <origin xyz="0 0 0"/>
      <geometry>
        <box size="1.0 1.0 3.0"/>
      </geometry>
    </collision>
    <inertial>
      <mass value="0"/> <!-- static -->
      <inertia ixx="0" iyy="0" izz="0" ixy="0" ixz="0" iyz="0"/>
    </inertial>
  </link>


  <joint name="joint_block_5_8" type="fixed">
    <parent link="maze_base"/>
    <child link="block_5_8"/>
    <origin xyz="4.5 0.5 1.5" rpy="0 0 0"/>
  </joint>


  <link name="block_5_10">
    <visual>
      <origin xyz="0 0 0"/>
      <geometry>
        <box size="1.0 1.0 3.0"/>
      </geometry>
      <material name="wall">
        <color rgba="0.95 0.95 0.98 1.0"/>
      </material>
    </visual>
    <collision>
      <origin xyz="0 0 0"/>
      <geometry>
        <box size="1.0 1.0 3.0"/>
      </geometry>
    </collision>
    <inertial>
      <mass value="0"/> <!-- static -->
      <inertia ixx="0" iyy="0" izz="0" ixy="0" ixz="0" iyz="0"/>
    </inertial>
  </link>


  <joint name="joint_block_5_10" type="fixed">
    <parent link="maze_base"/>
    <child link="block_5_10"/>
    <origin xyz="6.5 0.5 1.5" rpy="0 0 0"/>
  </joint>


  <link name="block_5_11">
    <visual>
      <origin xyz="0 0 0"/>
      <geometry>
        <box size="1.0 1.0 3.0"/>
      </geometry>
      <material name="wall">
        <color rgba="0.95 0.95 0.98 1.0"/>
      </material>
    </visual>
    <collision>
      <origin xyz="0 0 0"/>
      <geometry>
        <box size="1.0 1.0 3.0"/>
      </geometry>
    </collision>
    <inertial>
      <mass value="0"/> <!-- static -->
      <inertia ixx="0" iyy="0" izz="0" ixy="0" ixz="0" iyz="0"/>
    </inertial>
  </link>


  <joint name="joint_block_5_11" type="fixed">
    <parent link="maze_base"/>
    <child link="block_5_11"/>
    <origin xyz="7.5 0.5 1.5" rpy="0 0 0"/>
  </joint>


  <link name="block_5_12">
    <visual>
      <origin xyz="0 0 0"/>
      <geometry>
        <box size="1.0 1.0 3.0"/>
      </geometry>
      <material name="wall">
        <color rgba="0.95 0.95 0.98 1.0"/>
      </material>
    </visual>
    <collision>
      <origin xyz="0 0 0"/>
      <geometry>
        <box size="1.0 1.0 3.0"/>
      </geometry>
    </collision>
    <inertial>
      <mass value="0"/> <!-- static -->
      <inertia ixx="0" iyy="0" izz="0" ixy="0" ixz="0" iyz="0"/>
    </inertial>
  </link>


  <joint name="joint_block_5_12" type="fixed">
    <parent link="maze_base"/>
    <child link="block_5_12"/>
    <origin xyz="8.5 0.5 1.5" rpy="0 0 0"/>
  </joint>


  <link name="block_5_17">
    <visual>
      <origin xyz="0 0 0"/>
      <geometry>
        <box size="1.0 1.0 3.0"/>
      </geometry>
      <material name="wall">
        <color rgba="0.95 0.95 0.98 1.0"/>
      </material>
    </visual>
    <collision>
      <origin xyz="0 0 0"/>
      <geometry>
        <box size="1.0 1.0 3.0"/>
      </geometry>
    </collision>
    <inertial>
      <mass value="0"/> <!-- static -->
      <inertia ixx="0" iyy="0" izz="0" ixy="0" ixz="0" iyz="0"/>
    </inertial>
  </link>


  <joint name="joint_block_5_17" type="fixed">
    <parent link="maze_base"/>
    <child link="block_5_17"/>
    <origin xyz="13.5 0.5 1.5" rpy="0 0 0"/>
  </joint>


  <link name="block_5_18">
    <visual>
      <origin xyz="0 0 0"/>
      <geometry>
        <box size="1.0 1.0 3.0"/>
      </geometry>
      <material name="wall">
        <color rgba="0.95 0.95 0.98 1.0"/>
      </material>
    </visual>
    <collision>
      <origin xyz="0 0 0"/>
      <geometry>
        <box size="1.0 1.0 3.0"/>
      </geometry>
    </collision>
    <inertial>
      <mass value="0"/> <!-- static -->
      <inertia ixx="0" iyy="0" izz="0" ixy="0" ixz="0" iyz="0"/>
    </inertial>
  </link>


  <joint name="joint_block_5_18" type="fixed">
    <parent link="maze_base"/>
    <child link="block_5_18"/>
    <origin xyz="14.5 0.5 1.5" rpy="0 0 0"/>
  </joint>


  <link name="block_5_19">
    <visual>
      <origin xyz="0 0 0"/>
      <geometry>
        <box size="1.0 1.0 3.0"/>
      </geometry>
      <material name="wall">
        <color rgba="0.95 0.95 0.98 1.0"/>
      </material>
    </visual>
    <collision>
      <origin xyz="0 0 0"/>
      <geometry>
        <box size="1.0 1.0 3.0"/>
      </geometry>
    </collision>
    <inertial>
      <mass value="0"/> <!-- static -->
      <inertia ixx="0" iyy="0" izz="0" ixy="0" ixz="0" iyz="0"/>
    </inertial>
  </link>


  <joint name="joint_block_5_19" type="fixed">
    <parent link="maze_base"/>
    <child link="block_5_19"/>
    <origin xyz="15.5 0.5 1.5" rpy="0 0 0"/>
  </joint>


  <link name="block_5_20">
    <visual>
      <origin xyz="0 0 0"/>
      <geometry>
        <box size="1.0 1.0 3.0"/>
      </geometry>
      <material name="wall">
        <color rgba="0.95 0.95 0.98 1.0"/>
      </material>
    </visual>
    <collision>
      <origin xyz="0 0 0"/>
      <geometry>
        <box size="1.0 1.0 3.0"/>
      </geometry>
    </collision>
    <inertial>
      <mass value="0"/> <!-- static -->
      <inertia ixx="0" iyy="0" izz="0" ixy="0" ixz="0" iyz="0"/>
    </inertial>
  </link>


  <joint name="joint_block_5_20" type="fixed">
    <parent link="maze_base"/>
    <child link="block_5_20"/>
    <origin xyz="16.5 0.5 1.5" rpy="0 0 0"/>
  </joint>


  <link name="block_5_21">
    <visual>
      <origin xyz="0 0 0"/>
      <geometry>
        <box size="1.0 1.0 3.0"/>
      </geometry>
      <material name="wall">
        <color rgba="0.95 0.95 0.98 1.0"/>
      </material>
    </visual>
    <collision>
      <origin xyz="0 0 0"/>
      <geometry>
        <box size="1.0 1.0 3.0"/>
      </geometry>
    </collision>
    <inertial>
      <mass value="0"/> <!-- static -->
      <inertia ixx="0" iyy="0" izz="0" ixy="0" ixz="0" iyz="0"/>
    </inertial>
  </link>


  <joint name="joint_block_5_21" type="fixed">
    <parent link="maze_base"/>
    <child link="block_5_21"/>
    <origin xyz="17.5 0.5 1.5" rpy="0 0 0"/>
  </joint>


  <link name="block_6_0">
    <visual>
      <origin xyz="0 0 0"/>
      <geometry>
        <box size="1.0 1.0 3.0"/>
      </geometry>
      <material name="wall">
        <color rgba="0.95 0.95 0.98 1.0"/>
      </material>
    </visual>
    <collision>
      <origin xyz="0 0 0"/>
      <geometry>
        <box size="1.0 1.0 3.0"/>
      </geometry>
    </collision>
    <inertial>
      <mass value="0"/> <!-- static -->
      <inertia ixx="0" iyy="0" izz="0" ixy="0" ixz="0" iyz="0"/>
    </inertial>
  </link>


  <joint name="joint_block_6_0" type="fixed">
    <parent link="maze_base"/>
    <child link="block_6_0"/>
    <origin xyz="-3.5 -0.5 1.5" rpy="0 0 0"/>
  </joint>


  <link name="block_6_6">
    <visual>
      <origin xyz="0 0 0"/>
      <geometry>
        <box size="1.0 1.0 3.0"/>
      </geometry>
      <material name="wall">
        <color rgba="0.95 0.95 0.98 1.0"/>
      </material>
    </visual>
    <collision>
      <origin xyz="0 0 0"/>
      <geometry>
        <box size="1.0 1.0 3.0"/>
      </geometry>
    </collision>
    <inertial>
      <mass value="0"/> <!-- static -->
      <inertia ixx="0" iyy="0" izz="0" ixy="0" ixz="0" iyz="0"/>
    </inertial>
  </link>


  <joint name="joint_block_6_6" type="fixed">
    <parent link="maze_base"/>
    <child link="block_6_6"/>
    <origin xyz="2.5 -0.5 1.5" rpy="0 0 0"/>
  </joint>


  <link name="block_6_10">
    <visual>
      <origin xyz="0 0 0"/>
      <geometry>
        <box size="1.0 1.0 3.0"/>
      </geometry>
      <material name="wall">
        <color rgba="0.95 0.95 0.98 1.0"/>
      </material>
    </visual>
    <collision>
      <origin xyz="0 0 0"/>
      <geometry>
        <box size="1.0 1.0 3.0"/>
      </geometry>
    </collision>
    <inertial>
      <mass value="0"/> <!-- static -->
      <inertia ixx="0" iyy="0" izz="0" ixy="0" ixz="0" iyz="0"/>
    </inertial>
  </link>


  <joint name="joint_block_6_10" type="fixed">
    <parent link="maze_base"/>
    <child link="block_6_10"/>
    <origin xyz="6.5 -0.5 1.5" rpy="0 0 0"/>
  </joint>


  <link name="block_6_13">
    <visual>
      <origin xyz="0 0 0"/>
      <geometry>
        <box size="1.0 1.0 3.0"/>
      </geometry>
      <material name="wall">
        <color rgba="0.95 0.95 0.98 1.0"/>
      </material>
    </visual>
    <collision>
      <origin xyz="0 0 0"/>
      <geometry>
        <box size="1.0 1.0 3.0"/>
      </geometry>
    </collision>
    <inertial>
      <mass value="0"/> <!-- static -->
      <inertia ixx="0" iyy="0" izz="0" ixy="0" ixz="0" iyz="0"/>
    </inertial>
  </link>


  <joint name="joint_block_6_13" type="fixed">
    <parent link="maze_base"/>
    <child link="block_6_13"/>
    <origin xyz="9.5 -0.5 1.5" rpy="0 0 0"/>
  </joint>


  <link name="block_6_14">
    <visual>
      <origin xyz="0 0 0"/>
      <geometry>
        <box size="1.0 1.0 3.0"/>
      </geometry>
      <material name="wall">
        <color rgba="0.95 0.95 0.98 1.0"/>
      </material>
    </visual>
    <collision>
      <origin xyz="0 0 0"/>
      <geometry>
        <box size="1.0 1.0 3.0"/>
      </geometry>
    </collision>
    <inertial>
      <mass value="0"/> <!-- static -->
      <inertia ixx="0" iyy="0" izz="0" ixy="0" ixz="0" iyz="0"/>
    </inertial>
  </link>


  <joint name="joint_block_6_14" type="fixed">
    <parent link="maze_base"/>
    <child link="block_6_14"/>
    <origin xyz="10.5 -0.5 1.5" rpy="0 0 0"/>
  </joint>


  <link name="block_6_15">
    <visual>
      <origin xyz="0 0 0"/>
      <geometry>
        <box size="1.0 1.0 3.0"/>
      </geometry>
      <material name="wall">
        <color rgba="0.95 0.95 0.98 1.0"/>
      </material>
    </visual>
    <collision>
      <origin xyz="0 0 0"/>
      <geometry>
        <box size="1.0 1.0 3.0"/>
      </geometry>
    </collision>
    <inertial>
      <mass value="0"/> <!-- static -->
      <inertia ixx="0" iyy="0" izz="0" ixy="0" ixz="0" iyz="0"/>
    </inertial>
  </link>


  <joint name="joint_block_6_15" type="fixed">
    <parent link="maze_base"/>
    <child link="block_6_15"/>
    <origin xyz="11.5 -0.5 1.5" rpy="0 0 0"/>
  </joint>


  <link name="block_6_17">
    <visual>
      <origin xyz="0 0 0"/>
      <geometry>
        <box size="1.0 1.0 3.0"/>
      </geometry>
      <material name="wall">
        <color rgba="0.95 0.95 0.98 1.0"/>
      </material>
    </visual>
    <collision>
      <origin xyz="0 0 0"/>
      <geometry>
        <box size="1.0 1.0 3.0"/>
      </geometry>
    </collision>
    <inertial>
      <mass value="0"/> <!-- static -->
      <inertia ixx="0" iyy="0" izz="0" ixy="0" ixz="0" iyz="0"/>
    </inertial>
  </link>


  <joint name="joint_block_6_17" type="fixed">
    <parent link="maze_base"/>
    <child link="block_6_17"/>
    <origin xyz="13.5 -0.5 1.5" rpy="0 0 0"/>
  </joint>


  <link name="block_6_18">
    <visual>
      <origin xyz="0 0 0"/>
      <geometry>
        <box size="1.0 1.0 3.0"/>
      </geometry>
      <material name="wall">
        <color rgba="0.95 0.95 0.98 1.0"/>
      </material>
    </visual>
    <collision>
      <origin xyz="0 0 0"/>
      <geometry>
        <box size="1.0 1.0 3.0"/>
      </geometry>
    </collision>
    <inertial>
      <mass value="0"/> <!-- static -->
      <inertia ixx="0" iyy="0" izz="0" ixy="0" ixz="0" iyz="0"/>
    </inertial>
  </link>


  <joint name="joint_block_6_18" type="fixed">
    <parent link="maze_base"/>
    <child link="block_6_18"/>
    <origin xyz="14.5 -0.5 1.5" rpy="0 0 0"/>
  </joint>


  <link name="block_6_19">
    <visual>
      <origin xyz="0 0 0"/>
      <geometry>
        <box size="1.0 1.0 3.0"/>
      </geometry>
      <material name="wall">
        <color rgba="0.95 0.95 0.98 1.0"/>
      </material>
    </visual>
    <collision>
      <origin xyz="0 0 0"/>
      <geometry>
        <box size="1.0 1.0 3.0"/>
      </geometry>
    </collision>
    <inertial>
      <mass value="0"/> <!-- static -->
      <inertia ixx="0" iyy="0" izz="0" ixy="0" ixz="0" iyz="0"/>
    </inertial>
  </link>


  <joint name="joint_block_6_19" type="fixed">
    <parent link="maze_base"/>
    <child link="block_6_19"/>
    <origin xyz="15.5 -0.5 1.5" rpy="0 0 0"/>
  </joint>


  <link name="block_6_20">
    <visual>
      <origin xyz="0 0 0"/>
      <geometry>
        <box size="1.0 1.0 3.0"/>
      </geometry>
      <material name="wall">
        <color rgba="0.95 0.95 0.98 1.0"/>
      </material>
    </visual>
    <collision>
      <origin xyz="0 0 0"/>
      <geometry>
        <box size="1.0 1.0 3.0"/>
      </geometry>
    </collision>
    <inertial>
      <mass value="0"/> <!-- static -->
      <inertia ixx="0" iyy="0" izz="0" ixy="0" ixz="0" iyz="0"/>
    </inertial>
  </link>


  <joint name="joint_block_6_20" type="fixed">
    <parent link="maze_base"/>
    <child link="block_6_20"/>
    <origin xyz="16.5 -0.5 1.5" rpy="0 0 0"/>
  </joint>


  <link name="block_6_21">
    <visual>
      <origin xyz="0 0 0"/>
      <geometry>
        <box size="1.0 1.0 3.0"/>
      </geometry>
      <material name="wall">
        <color rgba="0.95 0.95 0.98 1.0"/>
      </material>
    </visual>
    <collision>
      <origin xyz="0 0 0"/>
      <geometry>
        <box size="1.0 1.0 3.0"/>
      </geometry>
    </collision>
    <inertial>
      <mass value="0"/> <!-- static -->
      <inertia ixx="0" iyy="0" izz="0" ixy="0" ixz="0" iyz="0"/>
    </inertial>
  </link>


  <joint name="joint_block_6_21" type="fixed">
    <parent link="maze_base"/>
    <child link="block_6_21"/>
    <origin xyz="17.5 -0.5 1.5" rpy="0 0 0"/>
  </joint>


  <link name="block_7_0">
    <visual>
      <origin xyz="0 0 0"/>
      <geometry>
        <box size="1.0 1.0 3.0"/>
      </geometry>
      <material name="wall">
        <color rgba="0.95 0.95 0.98 1.0"/>
      </material>
    </visual>
    <collision>
      <origin xyz="0 0 0"/>
      <geometry>
        <box size="1.0 1.0 3.0"/>
      </geometry>
    </collision>
    <inertial>
      <mass value="0"/> <!-- static -->
      <inertia ixx="0" iyy="0" izz="0" ixy="0" ixz="0" iyz="0"/>
    </inertial>
  </link>


  <joint name="joint_block_7_0" type="fixed">
    <parent link="maze_base"/>
    <child link="block_7_0"/>
    <origin xyz="-3.5 -1.5 1.5" rpy="0 0 0"/>
  </joint>


  <link name="block_7_9">
    <visual>
      <origin xyz="0 0 0"/>
      <geometry>
        <box size="1.0 1.0 3.0"/>
      </geometry>
      <material name="wall">
        <color rgba="0.95 0.95 0.98 1.0"/>
      </material>
    </visual>
    <collision>
      <origin xyz="0 0 0"/>
      <geometry>
        <box size="1.0 1.0 3.0"/>
      </geometry>
    </collision>
    <inertial>
      <mass value="0"/> <!-- static -->
      <inertia ixx="0" iyy="0" izz="0" ixy="0" ixz="0" iyz="0"/>
    </inertial>
  </link>


  <joint name="joint_block_7_9" type="fixed">
    <parent link="maze_base"/>
    <child link="block_7_9"/>
    <origin xyz="5.5 -1.5 1.5" rpy="0 0 0"/>
  </joint>


  <link name="block_7_10">
    <visual>
      <origin xyz="0 0 0"/>
      <geometry>
        <box size="1.0 1.0 3.0"/>
      </geometry>
      <material name="wall">
        <color rgba="0.95 0.95 0.98 1.0"/>
      </material>
    </visual>
    <collision>
      <origin xyz="0 0 0"/>
      <geometry>
        <box size="1.0 1.0 3.0"/>
      </geometry>
    </collision>
    <inertial>
      <mass value="0"/> <!-- static -->
      <inertia ixx="0" iyy="0" izz="0" ixy="0" ixz="0" iyz="0"/>
    </inertial>
  </link>


  <joint name="joint_block_7_10" type="fixed">
    <parent link="maze_base"/>
    <child link="block_7_10"/>
    <origin xyz="6.5 -1.5 1.5" rpy="0 0 0"/>
  </joint>


  <link name="block_7_11">
    <visual>
      <origin xyz="0 0 0"/>
      <geometry>
        <box size="1.0 1.0 3.0"/>
      </geometry>
      <material name="wall">
        <color rgba="0.95 0.95 0.98 1.0"/>
      </material>
    </visual>
    <collision>
      <origin xyz="0 0 0"/>
      <geometry>
        <box size="1.0 1.0 3.0"/>
      </geometry>
    </collision>
    <inertial>
      <mass value="0"/> <!-- static -->
      <inertia ixx="0" iyy="0" izz="0" ixy="0" ixz="0" iyz="0"/>
    </inertial>
  </link>


  <joint name="joint_block_7_11" type="fixed">
    <parent link="maze_base"/>
    <child link="block_7_11"/>
    <origin xyz="7.5 -1.5 1.5" rpy="0 0 0"/>
  </joint>


  <link name="block_7_12">
    <visual>
      <origin xyz="0 0 0"/>
      <geometry>
        <box size="1.0 1.0 3.0"/>
      </geometry>
      <material name="wall">
        <color rgba="0.95 0.95 0.98 1.0"/>
      </material>
    </visual>
    <collision>
      <origin xyz="0 0 0"/>
      <geometry>
        <box size="1.0 1.0 3.0"/>
      </geometry>
    </collision>
    <inertial>
      <mass value="0"/> <!-- static -->
      <inertia ixx="0" iyy="0" izz="0" ixy="0" ixz="0" iyz="0"/>
    </inertial>
  </link>


  <joint name="joint_block_7_12" type="fixed">
    <parent link="maze_base"/>
    <child link="block_7_12"/>
    <origin xyz="8.5 -1.5 1.5" rpy="0 0 0"/>
  </joint>


  <link name="block_7_13">
    <visual>
      <origin xyz="0 0 0"/>
      <geometry>
        <box size="1.0 1.0 3.0"/>
      </geometry>
      <material name="wall">
        <color rgba="0.95 0.95 0.98 1.0"/>
      </material>
    </visual>
    <collision>
      <origin xyz="0 0 0"/>
      <geometry>
        <box size="1.0 1.0 3.0"/>
      </geometry>
    </collision>
    <inertial>
      <mass value="0"/> <!-- static -->
      <inertia ixx="0" iyy="0" izz="0" ixy="0" ixz="0" iyz="0"/>
    </inertial>
  </link>


  <joint name="joint_block_7_13" type="fixed">
    <parent link="maze_base"/>
    <child link="block_7_13"/>
    <origin xyz="9.5 -1.5 1.5" rpy="0 0 0"/>
  </joint>


  <link name="block_7_14">
    <visual>
      <origin xyz="0 0 0"/>
      <geometry>
        <box size="1.0 1.0 3.0"/>
      </geometry>
      <material name="wall">
        <color rgba="0.95 0.95 0.98 1.0"/>
      </material>
    </visual>
    <collision>
      <origin xyz="0 0 0"/>
      <geometry>
        <box size="1.0 1.0 3.0"/>
      </geometry>
    </collision>
    <inertial>
      <mass value="0"/> <!-- static -->
      <inertia ixx="0" iyy="0" izz="0" ixy="0" ixz="0" iyz="0"/>
    </inertial>
  </link>


  <joint name="joint_block_7_14" type="fixed">
    <parent link="maze_base"/>
    <child link="block_7_14"/>
    <origin xyz="10.5 -1.5 1.5" rpy="0 0 0"/>
  </joint>


  <link name="block_7_15">
    <visual>
      <origin xyz="0 0 0"/>
      <geometry>
        <box size="1.0 1.0 3.0"/>
      </geometry>
      <material name="wall">
        <color rgba="0.95 0.95 0.98 1.0"/>
      </material>
    </visual>
    <collision>
      <origin xyz="0 0 0"/>
      <geometry>
        <box size="1.0 1.0 3.0"/>
      </geometry>
    </collision>
    <inertial>
      <mass value="0"/> <!-- static -->
      <inertia ixx="0" iyy="0" izz="0" ixy="0" ixz="0" iyz="0"/>
    </inertial>
  </link>


  <joint name="joint_block_7_15" type="fixed">
    <parent link="maze_base"/>
    <child link="block_7_15"/>
    <origin xyz="11.5 -1.5 1.5" rpy="0 0 0"/>
  </joint>


  <link name="block_7_18">
    <visual>
      <origin xyz="0 0 0"/>
      <geometry>
        <box size="1.0 1.0 3.0"/>
      </geometry>
      <material name="wall">
        <color rgba="0.95 0.95 0.98 1.0"/>
      </material>
    </visual>
    <collision>
      <origin xyz="0 0 0"/>
      <geometry>
        <box size="1.0 1.0 3.0"/>
      </geometry>
    </collision>
    <inertial>
      <mass value="0"/> <!-- static -->
      <inertia ixx="0" iyy="0" izz="0" ixy="0" ixz="0" iyz="0"/>
    </inertial>
  </link>


  <joint name="joint_block_7_18" type="fixed">
    <parent link="maze_base"/>
    <child link="block_7_18"/>
    <origin xyz="14.5 -1.5 1.5" rpy="0 0 0"/>
  </joint>


  <link name="block_7_19">
    <visual>
      <origin xyz="0 0 0"/>
      <geometry>
        <box size="1.0 1.0 3.0"/>
      </geometry>
      <material name="wall">
        <color rgba="0.95 0.95 0.98 1.0"/>
      </material>
    </visual>
    <collision>
      <origin xyz="0 0 0"/>
      <geometry>
        <box size="1.0 1.0 3.0"/>
      </geometry>
    </collision>
    <inertial>
      <mass value="0"/> <!-- static -->
      <inertia ixx="0" iyy="0" izz="0" ixy="0" ixz="0" iyz="0"/>
    </inertial>
  </link>


  <joint name="joint_block_7_19" type="fixed">
    <parent link="maze_base"/>
    <child link="block_7_19"/>
    <origin xyz="15.5 -1.5 1.5" rpy="0 0 0"/>
  </joint>


  <link name="block_7_20">
    <visual>
      <origin xyz="0 0 0"/>
      <geometry>
        <box size="1.0 1.0 3.0"/>
      </geometry>
      <material name="wall">
        <color rgba="0.95 0.95 0.98 1.0"/>
      </material>
    </visual>
    <collision>
      <origin xyz="0 0 0"/>
      <geometry>
        <box size="1.0 1.0 3.0"/>
      </geometry>
    </collision>
    <inertial>
      <mass value="0"/> <!-- static -->
      <inertia ixx="0" iyy="0" izz="0" ixy="0" ixz="0" iyz="0"/>
    </inertial>
  </link>


  <joint name="joint_block_7_20" type="fixed">
    <parent link="maze_base"/>
    <child link="block_7_20"/>
    <origin xyz="16.5 -1.5 1.5" rpy="0 0 0"/>
  </joint>


  <link name="block_7_21">
    <visual>
      <origin xyz="0 0 0"/>
      <geometry>
        <box size="1.0 1.0 3.0"/>
      </geometry>
      <material name="wall">
        <color rgba="0.95 0.95 0.98 1.0"/>
      </material>
    </visual>
    <collision>
      <origin xyz="0 0 0"/>
      <geometry>
        <box size="1.0 1.0 3.0"/>
      </geometry>
    </collision>
    <inertial>
      <mass value="0"/> <!-- static -->
      <inertia ixx="0" iyy="0" izz="0" ixy="0" ixz="0" iyz="0"/>
    </inertial>
  </link>


  <joint name="joint_block_7_21" type="fixed">
    <parent link="maze_base"/>
    <child link="block_7_21"/>
    <origin xyz="17.5 -1.5 1.5" rpy="0 0 0"/>
  </joint>


  <link name="block_8_0">
    <visual>
      <origin xyz="0 0 0"/>
      <geometry>
        <box size="1.0 1.0 3.0"/>
      </geometry>
      <material name="wall">
        <color rgba="0.95 0.95 0.98 1.0"/>
      </material>
    </visual>
    <collision>
      <origin xyz="0 0 0"/>
      <geometry>
        <box size="1.0 1.0 3.0"/>
      </geometry>
    </collision>
    <inertial>
      <mass value="0"/> <!-- static -->
      <inertia ixx="0" iyy="0" izz="0" ixy="0" ixz="0" iyz="0"/>
    </inertial>
  </link>


  <joint name="joint_block_8_0" type="fixed">
    <parent link="maze_base"/>
    <child link="block_8_0"/>
    <origin xyz="-3.5 -2.5 1.5" rpy="0 0 0"/>
  </joint>


  <link name="block_8_6">
    <visual>
      <origin xyz="0 0 0"/>
      <geometry>
        <box size="1.0 1.0 3.0"/>
      </geometry>
      <material name="wall">
        <color rgba="0.95 0.95 0.98 1.0"/>
      </material>
    </visual>
    <collision>
      <origin xyz="0 0 0"/>
      <geometry>
        <box size="1.0 1.0 3.0"/>
      </geometry>
    </collision>
    <inertial>
      <mass value="0"/> <!-- static -->
      <inertia ixx="0" iyy="0" izz="0" ixy="0" ixz="0" iyz="0"/>
    </inertial>
  </link>


  <joint name="joint_block_8_6" type="fixed">
    <parent link="maze_base"/>
    <child link="block_8_6"/>
    <origin xyz="2.5 -2.5 1.5" rpy="0 0 0"/>
  </joint>


  <link name="block_8_9">
    <visual>
      <origin xyz="0 0 0"/>
      <geometry>
        <box size="1.0 1.0 3.0"/>
      </geometry>
      <material name="wall">
        <color rgba="0.95 0.95 0.98 1.0"/>
      </material>
    </visual>
    <collision>
      <origin xyz="0 0 0"/>
      <geometry>
        <box size="1.0 1.0 3.0"/>
      </geometry>
    </collision>
    <inertial>
      <mass value="0"/> <!-- static -->
      <inertia ixx="0" iyy="0" izz="0" ixy="0" ixz="0" iyz="0"/>
    </inertial>
  </link>


  <joint name="joint_block_8_9" type="fixed">
    <parent link="maze_base"/>
    <child link="block_8_9"/>
    <origin xyz="5.5 -2.5 1.5" rpy="0 0 0"/>
  </joint>


  <link name="block_8_10">
    <visual>
      <origin xyz="0 0 0"/>
      <geometry>
        <box size="1.0 1.0 3.0"/>
      </geometry>
      <material name="wall">
        <color rgba="0.95 0.95 0.98 1.0"/>
      </material>
    </visual>
    <collision>
      <origin xyz="0 0 0"/>
      <geometry>
        <box size="1.0 1.0 3.0"/>
      </geometry>
    </collision>
    <inertial>
      <mass value="0"/> <!-- static -->
      <inertia ixx="0" iyy="0" izz="0" ixy="0" ixz="0" iyz="0"/>
    </inertial>
  </link>


  <joint name="joint_block_8_10" type="fixed">
    <parent link="maze_base"/>
    <child link="block_8_10"/>
    <origin xyz="6.5 -2.5 1.5" rpy="0 0 0"/>
  </joint>


  <link name="block_8_11">
    <visual>
      <origin xyz="0 0 0"/>
      <geometry>
        <box size="1.0 1.0 3.0"/>
      </geometry>
      <material name="wall">
        <color rgba="0.95 0.95 0.98 1.0"/>
      </material>
    </visual>
    <collision>
      <origin xyz="0 0 0"/>
      <geometry>
        <box size="1.0 1.0 3.0"/>
      </geometry>
    </collision>
    <inertial>
      <mass value="0"/> <!-- static -->
      <inertia ixx="0" iyy="0" izz="0" ixy="0" ixz="0" iyz="0"/>
    </inertial>
  </link>


  <joint name="joint_block_8_11" type="fixed">
    <parent link="maze_base"/>
    <child link="block_8_11"/>
    <origin xyz="7.5 -2.5 1.5" rpy="0 0 0"/>
  </joint>


  <link name="block_8_12">
    <visual>
      <origin xyz="0 0 0"/>
      <geometry>
        <box size="1.0 1.0 3.0"/>
      </geometry>
      <material name="wall">
        <color rgba="0.95 0.95 0.98 1.0"/>
      </material>
    </visual>
    <collision>
      <origin xyz="0 0 0"/>
      <geometry>
        <box size="1.0 1.0 3.0"/>
      </geometry>
    </collision>
    <inertial>
      <mass value="0"/> <!-- static -->
      <inertia ixx="0" iyy="0" izz="0" ixy="0" ixz="0" iyz="0"/>
    </inertial>
  </link>


  <joint name="joint_block_8_12" type="fixed">
    <parent link="maze_base"/>
    <child link="block_8_12"/>
    <origin xyz="8.5 -2.5 1.5" rpy="0 0 0"/>
  </joint>


  <link name="block_8_13">
    <visual>
      <origin xyz="0 0 0"/>
      <geometry>
        <box size="1.0 1.0 3.0"/>
      </geometry>
      <material name="wall">
        <color rgba="0.95 0.95 0.98 1.0"/>
      </material>
    </visual>
    <collision>
      <origin xyz="0 0 0"/>
      <geometry>
        <box size="1.0 1.0 3.0"/>
      </geometry>
    </collision>
    <inertial>
      <mass value="0"/> <!-- static -->
      <inertia ixx="0" iyy="0" izz="0" ixy="0" ixz="0" iyz="0"/>
    </inertial>
  </link>


  <joint name="joint_block_8_13" type="fixed">
    <parent link="maze_base"/>
    <child link="block_8_13"/>
    <origin xyz="9.5 -2.5 1.5" rpy="0 0 0"/>
  </joint>


  <link name="block_8_14">
    <visual>
      <origin xyz="0 0 0"/>
      <geometry>
        <box size="1.0 1.0 3.0"/>
      </geometry>
      <material name="wall">
        <color rgba="0.95 0.95 0.98 1.0"/>
      </material>
    </visual>
    <collision>
      <origin xyz="0 0 0"/>
      <geometry>
        <box size="1.0 1.0 3.0"/>
      </geometry>
    </collision>
    <inertial>
      <mass value="0"/> <!-- static -->
      <inertia ixx="0" iyy="0" izz="0" ixy="0" ixz="0" iyz="0"/>
    </inertial>
  </link>


  <joint name="joint_block_8_14" type="fixed">
    <parent link="maze_base"/>
    <child link="block_8_14"/>
    <origin xyz="10.5 -2.5 1.5" rpy="0 0 0"/>
  </joint>


  <link name="block_8_15">
    <visual>
      <origin xyz="0 0 0"/>
      <geometry>
        <box size="1.0 1.0 3.0"/>
      </geometry>
      <material name="wall">
        <color rgba="0.95 0.95 0.98 1.0"/>
      </material>
    </visual>
    <collision>
      <origin xyz="0 0 0"/>
      <geometry>
        <box size="1.0 1.0 3.0"/>
      </geometry>
    </collision>
    <inertial>
      <mass value="0"/> <!-- static -->
      <inertia ixx="0" iyy="0" izz="0" ixy="0" ixz="0" iyz="0"/>
    </inertial>
  </link>


  <joint name="joint_block_8_15" type="fixed">
    <parent link="maze_base"/>
    <child link="block_8_15"/>
    <origin xyz="11.5 -2.5 1.5" rpy="0 0 0"/>
  </joint>


  <link name="block_8_16">
    <visual>
      <origin xyz="0 0 0"/>
      <geometry>
        <box size="1.0 1.0 3.0"/>
      </geometry>
      <material name="wall">
        <color rgba="0.95 0.95 0.98 1.0"/>
      </material>
    </visual>
    <collision>
      <origin xyz="0 0 0"/>
      <geometry>
        <box size="1.0 1.0 3.0"/>
      </geometry>
    </collision>
    <inertial>
      <mass value="0"/> <!-- static -->
      <inertia ixx="0" iyy="0" izz="0" ixy="0" ixz="0" iyz="0"/>
    </inertial>
  </link>


  <joint name="joint_block_8_16" type="fixed">
    <parent link="maze_base"/>
    <child link="block_8_16"/>
    <origin xyz="12.5 -2.5 1.5" rpy="0 0 0"/>
  </joint>


  <link name="block_8_17">
    <visual>
      <origin xyz="0 0 0"/>
      <geometry>
        <box size="1.0 1.0 3.0"/>
      </geometry>
      <material name="wall">
        <color rgba="0.95 0.95 0.98 1.0"/>
      </material>
    </visual>
    <collision>
      <origin xyz="0 0 0"/>
      <geometry>
        <box size="1.0 1.0 3.0"/>
      </geometry>
    </collision>
    <inertial>
      <mass value="0"/> <!-- static -->
      <inertia ixx="0" iyy="0" izz="0" ixy="0" ixz="0" iyz="0"/>
    </inertial>
  </link>


  <joint name="joint_block_8_17" type="fixed">
    <parent link="maze_base"/>
    <child link="block_8_17"/>
    <origin xyz="13.5 -2.5 1.5" rpy="0 0 0"/>
  </joint>


  <link name="block_8_20">
    <visual>
      <origin xyz="0 0 0"/>
      <geometry>
        <box size="1.0 1.0 3.0"/>
      </geometry>
      <material name="wall">
        <color rgba="0.95 0.95 0.98 1.0"/>
      </material>
    </visual>
    <collision>
      <origin xyz="0 0 0"/>
      <geometry>
        <box size="1.0 1.0 3.0"/>
      </geometry>
    </collision>
    <inertial>
      <mass value="0"/> <!-- static -->
      <inertia ixx="0" iyy="0" izz="0" ixy="0" ixz="0" iyz="0"/>
    </inertial>
  </link>


  <joint name="joint_block_8_20" type="fixed">
    <parent link="maze_base"/>
    <child link="block_8_20"/>
    <origin xyz="16.5 -2.5 1.5" rpy="0 0 0"/>
  </joint>


  <link name="block_8_21">
    <visual>
      <origin xyz="0 0 0"/>
      <geometry>
        <box size="1.0 1.0 3.0"/>
      </geometry>
      <material name="wall">
        <color rgba="0.95 0.95 0.98 1.0"/>
      </material>
    </visual>
    <collision>
      <origin xyz="0 0 0"/>
      <geometry>
        <box size="1.0 1.0 3.0"/>
      </geometry>
    </collision>
    <inertial>
      <mass value="0"/> <!-- static -->
      <inertia ixx="0" iyy="0" izz="0" ixy="0" ixz="0" iyz="0"/>
    </inertial>
  </link>


  <joint name="joint_block_8_21" type="fixed">
    <parent link="maze_base"/>
    <child link="block_8_21"/>
    <origin xyz="17.5 -2.5 1.5" rpy="0 0 0"/>
  </joint>


  <link name="block_9_0">
    <visual>
      <origin xyz="0 0 0"/>
      <geometry>
        <box size="1.0 1.0 3.0"/>
      </geometry>
      <material name="wall">
        <color rgba="0.95 0.95 0.98 1.0"/>
      </material>
    </visual>
    <collision>
      <origin xyz="0 0 0"/>
      <geometry>
        <box size="1.0 1.0 3.0"/>
      </geometry>
    </collision>
    <inertial>
      <mass value="0"/> <!-- static -->
      <inertia ixx="0" iyy="0" izz="0" ixy="0" ixz="0" iyz="0"/>
    </inertial>
  </link>


  <joint name="joint_block_9_0" type="fixed">
    <parent link="maze_base"/>
    <child link="block_9_0"/>
    <origin xyz="-3.5 -3.5 1.5" rpy="0 0 0"/>
  </joint>


  <link name="block_9_6">
    <visual>
      <origin xyz="0 0 0"/>
      <geometry>
        <box size="1.0 1.0 3.0"/>
      </geometry>
      <material name="wall">
        <color rgba="0.95 0.95 0.98 1.0"/>
      </material>
    </visual>
    <collision>
      <origin xyz="0 0 0"/>
      <geometry>
        <box size="1.0 1.0 3.0"/>
      </geometry>
    </collision>
    <inertial>
      <mass value="0"/> <!-- static -->
      <inertia ixx="0" iyy="0" izz="0" ixy="0" ixz="0" iyz="0"/>
    </inertial>
  </link>


  <joint name="joint_block_9_6" type="fixed">
    <parent link="maze_base"/>
    <child link="block_9_6"/>
    <origin xyz="2.5 -3.5 1.5" rpy="0 0 0"/>
  </joint>


  <link name="block_9_8">
    <visual>
      <origin xyz="0 0 0"/>
      <geometry>
        <box size="1.0 1.0 3.0"/>
      </geometry>
      <material name="wall">
        <color rgba="0.95 0.95 0.98 1.0"/>
      </material>
    </visual>
    <collision>
      <origin xyz="0 0 0"/>
      <geometry>
        <box size="1.0 1.0 3.0"/>
      </geometry>
    </collision>
    <inertial>
      <mass value="0"/> <!-- static -->
      <inertia ixx="0" iyy="0" izz="0" ixy="0" ixz="0" iyz="0"/>
    </inertial>
  </link>


  <joint name="joint_block_9_8" type="fixed">
    <parent link="maze_base"/>
    <child link="block_9_8"/>
    <origin xyz="4.5 -3.5 1.5" rpy="0 0 0"/>
  </joint>


  <link name="block_9_9">
    <visual>
      <origin xyz="0 0 0"/>
      <geometry>
        <box size="1.0 1.0 3.0"/>
      </geometry>
      <material name="wall">
        <color rgba="0.95 0.95 0.98 1.0"/>
      </material>
    </visual>
    <collision>
      <origin xyz="0 0 0"/>
      <geometry>
        <box size="1.0 1.0 3.0"/>
      </geometry>
    </collision>
    <inertial>
      <mass value="0"/> <!-- static -->
      <inertia ixx="0" iyy="0" izz="0" ixy="0" ixz="0" iyz="0"/>
    </inertial>
  </link>


  <joint name="joint_block_9_9" type="fixed">
    <parent link="maze_base"/>
    <child link="block_9_9"/>
    <origin xyz="5.5 -3.5 1.5" rpy="0 0 0"/>
  </joint>


  <link name="block_9_10">
    <visual>
      <origin xyz="0 0 0"/>
      <geometry>
        <box size="1.0 1.0 3.0"/>
      </geometry>
      <material name="wall">
        <color rgba="0.95 0.95 0.98 1.0"/>
      </material>
    </visual>
    <collision>
      <origin xyz="0 0 0"/>
      <geometry>
        <box size="1.0 1.0 3.0"/>
      </geometry>
    </collision>
    <inertial>
      <mass value="0"/> <!-- static -->
      <inertia ixx="0" iyy="0" izz="0" ixy="0" ixz="0" iyz="0"/>
    </inertial>
  </link>


  <joint name="joint_block_9_10" type="fixed">
    <parent link="maze_base"/>
    <child link="block_9_10"/>
    <origin xyz="6.5 -3.5 1.5" rpy="0 0 0"/>
  </joint>


  <link name="block_9_11">
    <visual>
      <origin xyz="0 0 0"/>
      <geometry>
        <box size="1.0 1.0 3.0"/>
      </geometry>
      <material name="wall">
        <color rgba="0.95 0.95 0.98 1.0"/>
      </material>
    </visual>
    <collision>
      <origin xyz="0 0 0"/>
      <geometry>
        <box size="1.0 1.0 3.0"/>
      </geometry>
    </collision>
    <inertial>
      <mass value="0"/> <!-- static -->
      <inertia ixx="0" iyy="0" izz="0" ixy="0" ixz="0" iyz="0"/>
    </inertial>
  </link>


  <joint name="joint_block_9_11" type="fixed">
    <parent link="maze_base"/>
    <child link="block_9_11"/>
    <origin xyz="7.5 -3.5 1.5" rpy="0 0 0"/>
  </joint>


  <link name="block_9_12">
    <visual>
      <origin xyz="0 0 0"/>
      <geometry>
        <box size="1.0 1.0 3.0"/>
      </geometry>
      <material name="wall">
        <color rgba="0.95 0.95 0.98 1.0"/>
      </material>
    </visual>
    <collision>
      <origin xyz="0 0 0"/>
      <geometry>
        <box size="1.0 1.0 3.0"/>
      </geometry>
    </collision>
    <inertial>
      <mass value="0"/> <!-- static -->
      <inertia ixx="0" iyy="0" izz="0" ixy="0" ixz="0" iyz="0"/>
    </inertial>
  </link>


  <joint name="joint_block_9_12" type="fixed">
    <parent link="maze_base"/>
    <child link="block_9_12"/>
    <origin xyz="8.5 -3.5 1.5" rpy="0 0 0"/>
  </joint>


  <link name="block_9_13">
    <visual>
      <origin xyz="0 0 0"/>
      <geometry>
        <box size="1.0 1.0 3.0"/>
      </geometry>
      <material name="wall">
        <color rgba="0.95 0.95 0.98 1.0"/>
      </material>
    </visual>
    <collision>
      <origin xyz="0 0 0"/>
      <geometry>
        <box size="1.0 1.0 3.0"/>
      </geometry>
    </collision>
    <inertial>
      <mass value="0"/> <!-- static -->
      <inertia ixx="0" iyy="0" izz="0" ixy="0" ixz="0" iyz="0"/>
    </inertial>
  </link>


  <joint name="joint_block_9_13" type="fixed">
    <parent link="maze_base"/>
    <child link="block_9_13"/>
    <origin xyz="9.5 -3.5 1.5" rpy="0 0 0"/>
  </joint>


  <link name="block_9_14">
    <visual>
      <origin xyz="0 0 0"/>
      <geometry>
        <box size="1.0 1.0 3.0"/>
      </geometry>
      <material name="wall">
        <color rgba="0.95 0.95 0.98 1.0"/>
      </material>
    </visual>
    <collision>
      <origin xyz="0 0 0"/>
      <geometry>
        <box size="1.0 1.0 3.0"/>
      </geometry>
    </collision>
    <inertial>
      <mass value="0"/> <!-- static -->
      <inertia ixx="0" iyy="0" izz="0" ixy="0" ixz="0" iyz="0"/>
    </inertial>
  </link>


  <joint name="joint_block_9_14" type="fixed">
    <parent link="maze_base"/>
    <child link="block_9_14"/>
    <origin xyz="10.5 -3.5 1.5" rpy="0 0 0"/>
  </joint>


  <link name="block_9_15">
    <visual>
      <origin xyz="0 0 0"/>
      <geometry>
        <box size="1.0 1.0 3.0"/>
      </geometry>
      <material name="wall">
        <color rgba="0.95 0.95 0.98 1.0"/>
      </material>
    </visual>
    <collision>
      <origin xyz="0 0 0"/>
      <geometry>
        <box size="1.0 1.0 3.0"/>
      </geometry>
    </collision>
    <inertial>
      <mass value="0"/> <!-- static -->
      <inertia ixx="0" iyy="0" izz="0" ixy="0" ixz="0" iyz="0"/>
    </inertial>
  </link>


  <joint name="joint_block_9_15" type="fixed">
    <parent link="maze_base"/>
    <child link="block_9_15"/>
    <origin xyz="11.5 -3.5 1.5" rpy="0 0 0"/>
  </joint>


  <link name="block_9_17">
    <visual>
      <origin xyz="0 0 0"/>
      <geometry>
        <box size="1.0 1.0 3.0"/>
      </geometry>
      <material name="wall">
        <color rgba="0.95 0.95 0.98 1.0"/>
      </material>
    </visual>
    <collision>
      <origin xyz="0 0 0"/>
      <geometry>
        <box size="1.0 1.0 3.0"/>
      </geometry>
    </collision>
    <inertial>
      <mass value="0"/> <!-- static -->
      <inertia ixx="0" iyy="0" izz="0" ixy="0" ixz="0" iyz="0"/>
    </inertial>
  </link>


  <joint name="joint_block_9_17" type="fixed">
    <parent link="maze_base"/>
    <child link="block_9_17"/>
    <origin xyz="13.5 -3.5 1.5" rpy="0 0 0"/>
  </joint>


  <link name="block_9_18">
    <visual>
      <origin xyz="0 0 0"/>
      <geometry>
        <box size="1.0 1.0 3.0"/>
      </geometry>
      <material name="wall">
        <color rgba="0.95 0.95 0.98 1.0"/>
      </material>
    </visual>
    <collision>
      <origin xyz="0 0 0"/>
      <geometry>
        <box size="1.0 1.0 3.0"/>
      </geometry>
    </collision>
    <inertial>
      <mass value="0"/> <!-- static -->
      <inertia ixx="0" iyy="0" izz="0" ixy="0" ixz="0" iyz="0"/>
    </inertial>
  </link>


  <joint name="joint_block_9_18" type="fixed">
    <parent link="maze_base"/>
    <child link="block_9_18"/>
    <origin xyz="14.5 -3.5 1.5" rpy="0 0 0"/>
  </joint>


  <link name="block_9_19">
    <visual>
      <origin xyz="0 0 0"/>
      <geometry>
        <box size="1.0 1.0 3.0"/>
      </geometry>
      <material name="wall">
        <color rgba="0.95 0.95 0.98 1.0"/>
      </material>
    </visual>
    <collision>
      <origin xyz="0 0 0"/>
      <geometry>
        <box size="1.0 1.0 3.0"/>
      </geometry>
    </collision>
    <inertial>
      <mass value="0"/> <!-- static -->
      <inertia ixx="0" iyy="0" izz="0" ixy="0" ixz="0" iyz="0"/>
    </inertial>
  </link>


  <joint name="joint_block_9_19" type="fixed">
    <parent link="maze_base"/>
    <child link="block_9_19"/>
    <origin xyz="15.5 -3.5 1.5" rpy="0 0 0"/>
  </joint>


  <link name="block_9_20">
    <visual>
      <origin xyz="0 0 0"/>
      <geometry>
        <box size="1.0 1.0 3.0"/>
      </geometry>
      <material name="wall">
        <color rgba="0.95 0.95 0.98 1.0"/>
      </material>
    </visual>
    <collision>
      <origin xyz="0 0 0"/>
      <geometry>
        <box size="1.0 1.0 3.0"/>
      </geometry>
    </collision>
    <inertial>
      <mass value="0"/> <!-- static -->
      <inertia ixx="0" iyy="0" izz="0" ixy="0" ixz="0" iyz="0"/>
    </inertial>
  </link>


  <joint name="joint_block_9_20" type="fixed">
    <parent link="maze_base"/>
    <child link="block_9_20"/>
    <origin xyz="16.5 -3.5 1.5" rpy="0 0 0"/>
  </joint>


  <link name="block_9_21">
    <visual>
      <origin xyz="0 0 0"/>
      <geometry>
        <box size="1.0 1.0 3.0"/>
      </geometry>
      <material name="wall">
        <color rgba="0.95 0.95 0.98 1.0"/>
      </material>
    </visual>
    <collision>
      <origin xyz="0 0 0"/>
      <geometry>
        <box size="1.0 1.0 3.0"/>
      </geometry>
    </collision>
    <inertial>
      <mass value="0"/> <!-- static -->
      <inertia ixx="0" iyy="0" izz="0" ixy="0" ixz="0" iyz="0"/>
    </inertial>
  </link>


  <joint name="joint_block_9_21" type="fixed">
    <parent link="maze_base"/>
    <child link="block_9_21"/>
    <origin xyz="17.5 -3.5 1.5" rpy="0 0 0"/>
  </joint>


  <link name="block_10_0">
    <visual>
      <origin xyz="0 0 0"/>
      <geometry>
        <box size="1.0 1.0 3.0"/>
      </geometry>
      <material name="wall">
        <color rgba="0.95 0.95 0.98 1.0"/>
      </material>
    </visual>
    <collision>
      <origin xyz="0 0 0"/>
      <geometry>
        <box size="1.0 1.0 3.0"/>
      </geometry>
    </collision>
    <inertial>
      <mass value="0"/> <!-- static -->
      <inertia ixx="0" iyy="0" izz="0" ixy="0" ixz="0" iyz="0"/>
    </inertial>
  </link>


  <joint name="joint_block_10_0" type="fixed">
    <parent link="maze_base"/>
    <child link="block_10_0"/>
    <origin xyz="-3.5 -4.5 1.5" rpy="0 0 0"/>
  </joint>


  <link name="block_10_6">
    <visual>
      <origin xyz="0 0 0"/>
      <geometry>
        <box size="1.0 1.0 3.0"/>
      </geometry>
      <material name="wall">
        <color rgba="0.95 0.95 0.98 1.0"/>
      </material>
    </visual>
    <collision>
      <origin xyz="0 0 0"/>
      <geometry>
        <box size="1.0 1.0 3.0"/>
      </geometry>
    </collision>
    <inertial>
      <mass value="0"/> <!-- static -->
      <inertia ixx="0" iyy="0" izz="0" ixy="0" ixz="0" iyz="0"/>
    </inertial>
  </link>


  <joint name="joint_block_10_6" type="fixed">
    <parent link="maze_base"/>
    <child link="block_10_6"/>
    <origin xyz="2.5 -4.5 1.5" rpy="0 0 0"/>
  </joint>


  <link name="block_10_9">
    <visual>
      <origin xyz="0 0 0"/>
      <geometry>
        <box size="1.0 1.0 3.0"/>
      </geometry>
      <material name="wall">
        <color rgba="0.95 0.95 0.98 1.0"/>
      </material>
    </visual>
    <collision>
      <origin xyz="0 0 0"/>
      <geometry>
        <box size="1.0 1.0 3.0"/>
      </geometry>
    </collision>
    <inertial>
      <mass value="0"/> <!-- static -->
      <inertia ixx="0" iyy="0" izz="0" ixy="0" ixz="0" iyz="0"/>
    </inertial>
  </link>


  <joint name="joint_block_10_9" type="fixed">
    <parent link="maze_base"/>
    <child link="block_10_9"/>
    <origin xyz="5.5 -4.5 1.5" rpy="0 0 0"/>
  </joint>


  <link name="block_10_10">
    <visual>
      <origin xyz="0 0 0"/>
      <geometry>
        <box size="1.0 1.0 3.0"/>
      </geometry>
      <material name="wall">
        <color rgba="0.95 0.95 0.98 1.0"/>
      </material>
    </visual>
    <collision>
      <origin xyz="0 0 0"/>
      <geometry>
        <box size="1.0 1.0 3.0"/>
      </geometry>
    </collision>
    <inertial>
      <mass value="0"/> <!-- static -->
      <inertia ixx="0" iyy="0" izz="0" ixy="0" ixz="0" iyz="0"/>
    </inertial>
  </link>


  <joint name="joint_block_10_10" type="fixed">
    <parent link="maze_base"/>
    <child link="block_10_10"/>
    <origin xyz="6.5 -4.5 1.5" rpy="0 0 0"/>
  </joint>


  <link name="block_10_11">
    <visual>
      <origin xyz="0 0 0"/>
      <geometry>
        <box size="1.0 1.0 3.0"/>
      </geometry>
      <material name="wall">
        <color rgba="0.95 0.95 0.98 1.0"/>
      </material>
    </visual>
    <collision>
      <origin xyz="0 0 0"/>
      <geometry>
        <box size="1.0 1.0 3.0"/>
      </geometry>
    </collision>
    <inertial>
      <mass value="0"/> <!-- static -->
      <inertia ixx="0" iyy="0" izz="0" ixy="0" ixz="0" iyz="0"/>
    </inertial>
  </link>


  <joint name="joint_block_10_11" type="fixed">
    <parent link="maze_base"/>
    <child link="block_10_11"/>
    <origin xyz="7.5 -4.5 1.5" rpy="0 0 0"/>
  </joint>


  <link name="block_10_12">
    <visual>
      <origin xyz="0 0 0"/>
      <geometry>
        <box size="1.0 1.0 3.0"/>
      </geometry>
      <material name="wall">
        <color rgba="0.95 0.95 0.98 1.0"/>
      </material>
    </visual>
    <collision>
      <origin xyz="0 0 0"/>
      <geometry>
        <box size="1.0 1.0 3.0"/>
      </geometry>
    </collision>
    <inertial>
      <mass value="0"/> <!-- static -->
      <inertia ixx="0" iyy="0" izz="0" ixy="0" ixz="0" iyz="0"/>
    </inertial>
  </link>


  <joint name="joint_block_10_12" type="fixed">
    <parent link="maze_base"/>
    <child link="block_10_12"/>
    <origin xyz="8.5 -4.5 1.5" rpy="0 0 0"/>
  </joint>


  <link name="block_10_13">
    <visual>
      <origin xyz="0 0 0"/>
      <geometry>
        <box size="1.0 1.0 3.0"/>
      </geometry>
      <material name="wall">
        <color rgba="0.95 0.95 0.98 1.0"/>
      </material>
    </visual>
    <collision>
      <origin xyz="0 0 0"/>
      <geometry>
        <box size="1.0 1.0 3.0"/>
      </geometry>
    </collision>
    <inertial>
      <mass value="0"/> <!-- static -->
      <inertia ixx="0" iyy="0" izz="0" ixy="0" ixz="0" iyz="0"/>
    </inertial>
  </link>


  <joint name="joint_block_10_13" type="fixed">
    <parent link="maze_base"/>
    <child link="block_10_13"/>
    <origin xyz="9.5 -4.5 1.5" rpy="0 0 0"/>
  </joint>


  <link name="block_10_14">
    <visual>
      <origin xyz="0 0 0"/>
      <geometry>
        <box size="1.0 1.0 3.0"/>
      </geometry>
      <material name="wall">
        <color rgba="0.95 0.95 0.98 1.0"/>
      </material>
    </visual>
    <collision>
      <origin xyz="0 0 0"/>
      <geometry>
        <box size="1.0 1.0 3.0"/>
      </geometry>
    </collision>
    <inertial>
      <mass value="0"/> <!-- static -->
      <inertia ixx="0" iyy="0" izz="0" ixy="0" ixz="0" iyz="0"/>
    </inertial>
  </link>


  <joint name="joint_block_10_14" type="fixed">
    <parent link="maze_base"/>
    <child link="block_10_14"/>
    <origin xyz="10.5 -4.5 1.5" rpy="0 0 0"/>
  </joint>


  <link name="block_10_16">
    <visual>
      <origin xyz="0 0 0"/>
      <geometry>
        <box size="1.0 1.0 3.0"/>
      </geometry>
      <material name="wall">
        <color rgba="0.95 0.95 0.98 1.0"/>
      </material>
    </visual>
    <collision>
      <origin xyz="0 0 0"/>
      <geometry>
        <box size="1.0 1.0 3.0"/>
      </geometry>
    </collision>
    <inertial>
      <mass value="0"/> <!-- static -->
      <inertia ixx="0" iyy="0" izz="0" ixy="0" ixz="0" iyz="0"/>
    </inertial>
  </link>


  <joint name="joint_block_10_16" type="fixed">
    <parent link="maze_base"/>
    <child link="block_10_16"/>
    <origin xyz="12.5 -4.5 1.5" rpy="0 0 0"/>
  </joint>


  <link name="block_10_18">
    <visual>
      <origin xyz="0 0 0"/>
      <geometry>
        <box size="1.0 1.0 3.0"/>
      </geometry>
      <material name="wall">
        <color rgba="0.95 0.95 0.98 1.0"/>
      </material>
    </visual>
    <collision>
      <origin xyz="0 0 0"/>
      <geometry>
        <box size="1.0 1.0 3.0"/>
      </geometry>
    </collision>
    <inertial>
      <mass value="0"/> <!-- static -->
      <inertia ixx="0" iyy="0" izz="0" ixy="0" ixz="0" iyz="0"/>
    </inertial>
  </link>


  <joint name="joint_block_10_18" type="fixed">
    <parent link="maze_base"/>
    <child link="block_10_18"/>
    <origin xyz="14.5 -4.5 1.5" rpy="0 0 0"/>
  </joint>


  <link name="block_10_20">
    <visual>
      <origin xyz="0 0 0"/>
      <geometry>
        <box size="1.0 1.0 3.0"/>
      </geometry>
      <material name="wall">
        <color rgba="0.95 0.95 0.98 1.0"/>
      </material>
    </visual>
    <collision>
      <origin xyz="0 0 0"/>
      <geometry>
        <box size="1.0 1.0 3.0"/>
      </geometry>
    </collision>
    <inertial>
      <mass value="0"/> <!-- static -->
      <inertia ixx="0" iyy="0" izz="0" ixy="0" ixz="0" iyz="0"/>
    </inertial>
  </link>


  <joint name="joint_block_10_20" type="fixed">
    <parent link="maze_base"/>
    <child link="block_10_20"/>
    <origin xyz="16.5 -4.5 1.5" rpy="0 0 0"/>
  </joint>


  <link name="block_10_21">
    <visual>
      <origin xyz="0 0 0"/>
      <geometry>
        <box size="1.0 1.0 3.0"/>
      </geometry>
      <material name="wall">
        <color rgba="0.95 0.95 0.98 1.0"/>
      </material>
    </visual>
    <collision>
      <origin xyz="0 0 0"/>
      <geometry>
        <box size="1.0 1.0 3.0"/>
      </geometry>
    </collision>
    <inertial>
      <mass value="0"/> <!-- static -->
      <inertia ixx="0" iyy="0" izz="0" ixy="0" ixz="0" iyz="0"/>
    </inertial>
  </link>


  <joint name="joint_block_10_21" type="fixed">
    <parent link="maze_base"/>
    <child link="block_10_21"/>
    <origin xyz="17.5 -4.5 1.5" rpy="0 0 0"/>
  </joint>


  <link name="block_11_0">
    <visual>
      <origin xyz="0 0 0"/>
      <geometry>
        <box size="1.0 1.0 3.0"/>
      </geometry>
      <material name="wall">
        <color rgba="0.95 0.95 0.98 1.0"/>
      </material>
    </visual>
    <collision>
      <origin xyz="0 0 0"/>
      <geometry>
        <box size="1.0 1.0 3.0"/>
      </geometry>
    </collision>
    <inertial>
      <mass value="0"/> <!-- static -->
      <inertia ixx="0" iyy="0" izz="0" ixy="0" ixz="0" iyz="0"/>
    </inertial>
  </link>


  <joint name="joint_block_11_0" type="fixed">
    <parent link="maze_base"/>
    <child link="block_11_0"/>
    <origin xyz="-3.5 -5.5 1.5" rpy="0 0 0"/>
  </joint>


  <link name="block_11_1">
    <visual>
      <origin xyz="0 0 0"/>
      <geometry>
        <box size="1.0 1.0 3.0"/>
      </geometry>
      <material name="wall">
        <color rgba="0.95 0.95 0.98 1.0"/>
      </material>
    </visual>
    <collision>
      <origin xyz="0 0 0"/>
      <geometry>
        <box size="1.0 1.0 3.0"/>
      </geometry>
    </collision>
    <inertial>
      <mass value="0"/> <!-- static -->
      <inertia ixx="0" iyy="0" izz="0" ixy="0" ixz="0" iyz="0"/>
    </inertial>
  </link>


  <joint name="joint_block_11_1" type="fixed">
    <parent link="maze_base"/>
    <child link="block_11_1"/>
    <origin xyz="-2.5 -5.5 1.5" rpy="0 0 0"/>
  </joint>


  <link name="block_11_2">
    <visual>
      <origin xyz="0 0 0"/>
      <geometry>
        <box size="1.0 1.0 3.0"/>
      </geometry>
      <material name="wall">
        <color rgba="0.95 0.95 0.98 1.0"/>
      </material>
    </visual>
    <collision>
      <origin xyz="0 0 0"/>
      <geometry>
        <box size="1.0 1.0 3.0"/>
      </geometry>
    </collision>
    <inertial>
      <mass value="0"/> <!-- static -->
      <inertia ixx="0" iyy="0" izz="0" ixy="0" ixz="0" iyz="0"/>
    </inertial>
  </link>


  <joint name="joint_block_11_2" type="fixed">
    <parent link="maze_base"/>
    <child link="block_11_2"/>
    <origin xyz="-1.5 -5.5 1.5" rpy="0 0 0"/>
  </joint>


  <link name="block_11_3">
    <visual>
      <origin xyz="0 0 0"/>
      <geometry>
        <box size="1.0 1.0 3.0"/>
      </geometry>
      <material name="wall">
        <color rgba="0.95 0.95 0.98 1.0"/>
      </material>
    </visual>
    <collision>
      <origin xyz="0 0 0"/>
      <geometry>
        <box size="1.0 1.0 3.0"/>
      </geometry>
    </collision>
    <inertial>
      <mass value="0"/> <!-- static -->
      <inertia ixx="0" iyy="0" izz="0" ixy="0" ixz="0" iyz="0"/>
    </inertial>
  </link>


  <joint name="joint_block_11_3" type="fixed">
    <parent link="maze_base"/>
    <child link="block_11_3"/>
    <origin xyz="-0.5 -5.5 1.5" rpy="0 0 0"/>
  </joint>


  <link name="block_11_4">
    <visual>
      <origin xyz="0 0 0"/>
      <geometry>
        <box size="1.0 1.0 3.0"/>
      </geometry>
      <material name="wall">
        <color rgba="0.95 0.95 0.98 1.0"/>
      </material>
    </visual>
    <collision>
      <origin xyz="0 0 0"/>
      <geometry>
        <box size="1.0 1.0 3.0"/>
      </geometry>
    </collision>
    <inertial>
      <mass value="0"/> <!-- static -->
      <inertia ixx="0" iyy="0" izz="0" ixy="0" ixz="0" iyz="0"/>
    </inertial>
  </link>


  <joint name="joint_block_11_4" type="fixed">
    <parent link="maze_base"/>
    <child link="block_11_4"/>
    <origin xyz="0.5 -5.5 1.5" rpy="0 0 0"/>
  </joint>


  <link name="block_11_5">
    <visual>
      <origin xyz="0 0 0"/>
      <geometry>
        <box size="1.0 1.0 3.0"/>
      </geometry>
      <material name="wall">
        <color rgba="0.95 0.95 0.98 1.0"/>
      </material>
    </visual>
    <collision>
      <origin xyz="0 0 0"/>
      <geometry>
        <box size="1.0 1.0 3.0"/>
      </geometry>
    </collision>
    <inertial>
      <mass value="0"/> <!-- static -->
      <inertia ixx="0" iyy="0" izz="0" ixy="0" ixz="0" iyz="0"/>
    </inertial>
  </link>


  <joint name="joint_block_11_5" type="fixed">
    <parent link="maze_base"/>
    <child link="block_11_5"/>
    <origin xyz="1.5 -5.5 1.5" rpy="0 0 0"/>
  </joint>


  <link name="block_11_6">
    <visual>
      <origin xyz="0 0 0"/>
      <geometry>
        <box size="1.0 1.0 3.0"/>
      </geometry>
      <material name="wall">
        <color rgba="0.95 0.95 0.98 1.0"/>
      </material>
    </visual>
    <collision>
      <origin xyz="0 0 0"/>
      <geometry>
        <box size="1.0 1.0 3.0"/>
      </geometry>
    </collision>
    <inertial>
      <mass value="0"/> <!-- static -->
      <inertia ixx="0" iyy="0" izz="0" ixy="0" ixz="0" iyz="0"/>
    </inertial>
  </link>


  <joint name="joint_block_11_6" type="fixed">
    <parent link="maze_base"/>
    <child link="block_11_6"/>
    <origin xyz="2.5 -5.5 1.5" rpy="0 0 0"/>
  </joint>


  <link name="block_11_7">
    <visual>
      <origin xyz="0 0 0"/>
      <geometry>
        <box size="1.0 1.0 3.0"/>
      </geometry>
      <material name="wall">
        <color rgba="0.95 0.95 0.98 1.0"/>
      </material>
    </visual>
    <collision>
      <origin xyz="0 0 0"/>
      <geometry>
        <box size="1.0 1.0 3.0"/>
      </geometry>
    </collision>
    <inertial>
      <mass value="0"/> <!-- static -->
      <inertia ixx="0" iyy="0" izz="0" ixy="0" ixz="0" iyz="0"/>
    </inertial>
  </link>


  <joint name="joint_block_11_7" type="fixed">
    <parent link="maze_base"/>
    <child link="block_11_7"/>
    <origin xyz="3.5 -5.5 1.5" rpy="0 0 0"/>
  </joint>


  <link name="block_11_8">
    <visual>
      <origin xyz="0 0 0"/>
      <geometry>
        <box size="1.0 1.0 3.0"/>
      </geometry>
      <material name="wall">
        <color rgba="0.95 0.95 0.98 1.0"/>
      </material>
    </visual>
    <collision>
      <origin xyz="0 0 0"/>
      <geometry>
        <box size="1.0 1.0 3.0"/>
      </geometry>
    </collision>
    <inertial>
      <mass value="0"/> <!-- static -->
      <inertia ixx="0" iyy="0" izz="0" ixy="0" ixz="0" iyz="0"/>
    </inertial>
  </link>


  <joint name="joint_block_11_8" type="fixed">
    <parent link="maze_base"/>
    <child link="block_11_8"/>
    <origin xyz="4.5 -5.5 1.5" rpy="0 0 0"/>
  </joint>


  <link name="block_11_9">
    <visual>
      <origin xyz="0 0 0"/>
      <geometry>
        <box size="1.0 1.0 3.0"/>
      </geometry>
      <material name="wall">
        <color rgba="0.95 0.95 0.98 1.0"/>
      </material>
    </visual>
    <collision>
      <origin xyz="0 0 0"/>
      <geometry>
        <box size="1.0 1.0 3.0"/>
      </geometry>
    </collision>
    <inertial>
      <mass value="0"/> <!-- static -->
      <inertia ixx="0" iyy="0" izz="0" ixy="0" ixz="0" iyz="0"/>
    </inertial>
  </link>


  <joint name="joint_block_11_9" type="fixed">
    <parent link="maze_base"/>
    <child link="block_11_9"/>
    <origin xyz="5.5 -5.5 1.5" rpy="0 0 0"/>
  </joint>


  <link name="block_11_10">
    <visual>
      <origin xyz="0 0 0"/>
      <geometry>
        <box size="1.0 1.0 3.0"/>
      </geometry>
      <material name="wall">
        <color rgba="0.95 0.95 0.98 1.0"/>
      </material>
    </visual>
    <collision>
      <origin xyz="0 0 0"/>
      <geometry>
        <box size="1.0 1.0 3.0"/>
      </geometry>
    </collision>
    <inertial>
      <mass value="0"/> <!-- static -->
      <inertia ixx="0" iyy="0" izz="0" ixy="0" ixz="0" iyz="0"/>
    </inertial>
  </link>


  <joint name="joint_block_11_10" type="fixed">
    <parent link="maze_base"/>
    <child link="block_11_10"/>
    <origin xyz="6.5 -5.5 1.5" rpy="0 0 0"/>
  </joint>


  <link name="block_11_11">
    <visual>
      <origin xyz="0 0 0"/>
      <geometry>
        <box size="1.0 1.0 3.0"/>
      </geometry>
      <material name="wall">
        <color rgba="0.95 0.95 0.98 1.0"/>
      </material>
    </visual>
    <collision>
      <origin xyz="0 0 0"/>
      <geometry>
        <box size="1.0 1.0 3.0"/>
      </geometry>
    </collision>
    <inertial>
      <mass value="0"/> <!-- static -->
      <inertia ixx="0" iyy="0" izz="0" ixy="0" ixz="0" iyz="0"/>
    </inertial>
  </link>


  <joint name="joint_block_11_11" type="fixed">
    <parent link="maze_base"/>
    <child link="block_11_11"/>
    <origin xyz="7.5 -5.5 1.5" rpy="0 0 0"/>
  </joint>


  <link name="block_11_12">
    <visual>
      <origin xyz="0 0 0"/>
      <geometry>
        <box size="1.0 1.0 3.0"/>
      </geometry>
      <material name="wall">
        <color rgba="0.95 0.95 0.98 1.0"/>
      </material>
    </visual>
    <collision>
      <origin xyz="0 0 0"/>
      <geometry>
        <box size="1.0 1.0 3.0"/>
      </geometry>
    </collision>
    <inertial>
      <mass value="0"/> <!-- static -->
      <inertia ixx="0" iyy="0" izz="0" ixy="0" ixz="0" iyz="0"/>
    </inertial>
  </link>


  <joint name="joint_block_11_12" type="fixed">
    <parent link="maze_base"/>
    <child link="block_11_12"/>
    <origin xyz="8.5 -5.5 1.5" rpy="0 0 0"/>
  </joint>


  <link name="block_11_13">
    <visual>
      <origin xyz="0 0 0"/>
      <geometry>
        <box size="1.0 1.0 3.0"/>
      </geometry>
      <material name="wall">
        <color rgba="0.95 0.95 0.98 1.0"/>
      </material>
    </visual>
    <collision>
      <origin xyz="0 0 0"/>
      <geometry>
        <box size="1.0 1.0 3.0"/>
      </geometry>
    </collision>
    <inertial>
      <mass value="0"/> <!-- static -->
      <inertia ixx="0" iyy="0" izz="0" ixy="0" ixz="0" iyz="0"/>
    </inertial>
  </link>


  <joint name="joint_block_11_13" type="fixed">
    <parent link="maze_base"/>
    <child link="block_11_13"/>
    <origin xyz="9.5 -5.5 1.5" rpy="0 0 0"/>
  </joint>


  <link name="block_11_14">
    <visual>
      <origin xyz="0 0 0"/>
      <geometry>
        <box size="1.0 1.0 3.0"/>
      </geometry>
      <material name="wall">
        <color rgba="0.95 0.95 0.98 1.0"/>
      </material>
    </visual>
    <collision>
      <origin xyz="0 0 0"/>
      <geometry>
        <box size="1.0 1.0 3.0"/>
      </geometry>
    </collision>
    <inertial>
      <mass value="0"/> <!-- static -->
      <inertia ixx="0" iyy="0" izz="0" ixy="0" ixz="0" iyz="0"/>
    </inertial>
  </link>


  <joint name="joint_block_11_14" type="fixed">
    <parent link="maze_base"/>
    <child link="block_11_14"/>
    <origin xyz="10.5 -5.5 1.5" rpy="0 0 0"/>
  </joint>


  <link name="block_11_15">
    <visual>
      <origin xyz="0 0 0"/>
      <geometry>
        <box size="1.0 1.0 3.0"/>
      </geometry>
      <material name="wall">
        <color rgba="0.95 0.95 0.98 1.0"/>
      </material>
    </visual>
    <collision>
      <origin xyz="0 0 0"/>
      <geometry>
        <box size="1.0 1.0 3.0"/>
      </geometry>
    </collision>
    <inertial>
      <mass value="0"/> <!-- static -->
      <inertia ixx="0" iyy="0" izz="0" ixy="0" ixz="0" iyz="0"/>
    </inertial>
  </link>


  <joint name="joint_block_11_15" type="fixed">
    <parent link="maze_base"/>
    <child link="block_11_15"/>
    <origin xyz="11.5 -5.5 1.5" rpy="0 0 0"/>
  </joint>


  <link name="block_11_16">
    <visual>
      <origin xyz="0 0 0"/>
      <geometry>
        <box size="1.0 1.0 3.0"/>
      </geometry>
      <material name="wall">
        <color rgba="0.95 0.95 0.98 1.0"/>
      </material>
    </visual>
    <collision>
      <origin xyz="0 0 0"/>
      <geometry>
        <box size="1.0 1.0 3.0"/>
      </geometry>
    </collision>
    <inertial>
      <mass value="0"/> <!-- static -->
      <inertia ixx="0" iyy="0" izz="0" ixy="0" ixz="0" iyz="0"/>
    </inertial>
  </link>


  <joint name="joint_block_11_16" type="fixed">
    <parent link="maze_base"/>
    <child link="block_11_16"/>
    <origin xyz="12.5 -5.5 1.5" rpy="0 0 0"/>
  </joint>


  <link name="block_11_17">
    <visual>
      <origin xyz="0 0 0"/>
      <geometry>
        <box size="1.0 1.0 3.0"/>
      </geometry>
      <material name="wall">
        <color rgba="0.95 0.95 0.98 1.0"/>
      </material>
    </visual>
    <collision>
      <origin xyz="0 0 0"/>
      <geometry>
        <box size="1.0 1.0 3.0"/>
      </geometry>
    </collision>
    <inertial>
      <mass value="0"/> <!-- static -->
      <inertia ixx="0" iyy="0" izz="0" ixy="0" ixz="0" iyz="0"/>
    </inertial>
  </link>


  <joint name="joint_block_11_17" type="fixed">
    <parent link="maze_base"/>
    <child link="block_11_17"/>
    <origin xyz="13.5 -5.5 1.5" rpy="0 0 0"/>
  </joint>


  <link name="block_11_18">
    <visual>
      <origin xyz="0 0 0"/>
      <geometry>
        <box size="1.0 1.0 3.0"/>
      </geometry>
      <material name="wall">
        <color rgba="0.95 0.95 0.98 1.0"/>
      </material>
    </visual>
    <collision>
      <origin xyz="0 0 0"/>
      <geometry>
        <box size="1.0 1.0 3.0"/>
      </geometry>
    </collision>
    <inertial>
      <mass value="0"/> <!-- static -->
      <inertia ixx="0" iyy="0" izz="0" ixy="0" ixz="0" iyz="0"/>
    </inertial>
  </link>


  <joint name="joint_block_11_18" type="fixed">
    <parent link="maze_base"/>
    <child link="block_11_18"/>
    <origin xyz="14.5 -5.5 1.5" rpy="0 0 0"/>
  </joint>


  <link name="block_11_19">
    <visual>
      <origin xyz="0 0 0"/>
      <geometry>
        <box size="1.0 1.0 3.0"/>
      </geometry>
      <material name="wall">
        <color rgba="0.95 0.95 0.98 1.0"/>
      </material>
    </visual>
    <collision>
      <origin xyz="0 0 0"/>
      <geometry>
        <box size="1.0 1.0 3.0"/>
      </geometry>
    </collision>
    <inertial>
      <mass value="0"/> <!-- static -->
      <inertia ixx="0" iyy="0" izz="0" ixy="0" ixz="0" iyz="0"/>
    </inertial>
  </link>


  <joint name="joint_block_11_19" type="fixed">
    <parent link="maze_base"/>
    <child link="block_11_19"/>
    <origin xyz="15.5 -5.5 1.5" rpy="0 0 0"/>
  </joint>


  <link name="block_11_20">
    <visual>
      <origin xyz="0 0 0"/>
      <geometry>
        <box size="1.0 1.0 3.0"/>
      </geometry>
      <material name="wall">
        <color rgba="0.95 0.95 0.98 1.0"/>
      </material>
    </visual>
    <collision>
      <origin xyz="0 0 0"/>
      <geometry>
        <box size="1.0 1.0 3.0"/>
      </geometry>
    </collision>
    <inertial>
      <mass value="0"/> <!-- static -->
      <inertia ixx="0" iyy="0" izz="0" ixy="0" ixz="0" iyz="0"/>
    </inertial>
  </link>


  <joint name="joint_block_11_20" type="fixed">
    <parent link="maze_base"/>
    <child link="block_11_20"/>
    <origin xyz="16.5 -5.5 1.5" rpy="0 0 0"/>
  </joint>


  <link name="block_11_21">
    <visual>
      <origin xyz="0 0 0"/>
      <geometry>
        <box size="1.0 1.0 3.0"/>
      </geometry>
      <material name="wall">
        <color rgba="0.95 0.95 0.98 1.0"/>
      </material>
    </visual>
    <collision>
      <origin xyz="0 0 0"/>
      <geometry>
        <box size="1.0 1.0 3.0"/>
      </geometry>
    </collision>
    <inertial>
      <mass value="0"/> <!-- static -->
      <inertia ixx="0" iyy="0" izz="0" ixy="0" ixz="0" iyz="0"/>
    </inertial>
  </link>


  <joint name="joint_block_11_21" type="fixed">
    <parent link="maze_base"/>
    <child link="block_11_21"/>
    <origin xyz="17.5 -5.5 1.5" rpy="0 0 0"/>
  </joint>

</robot>
